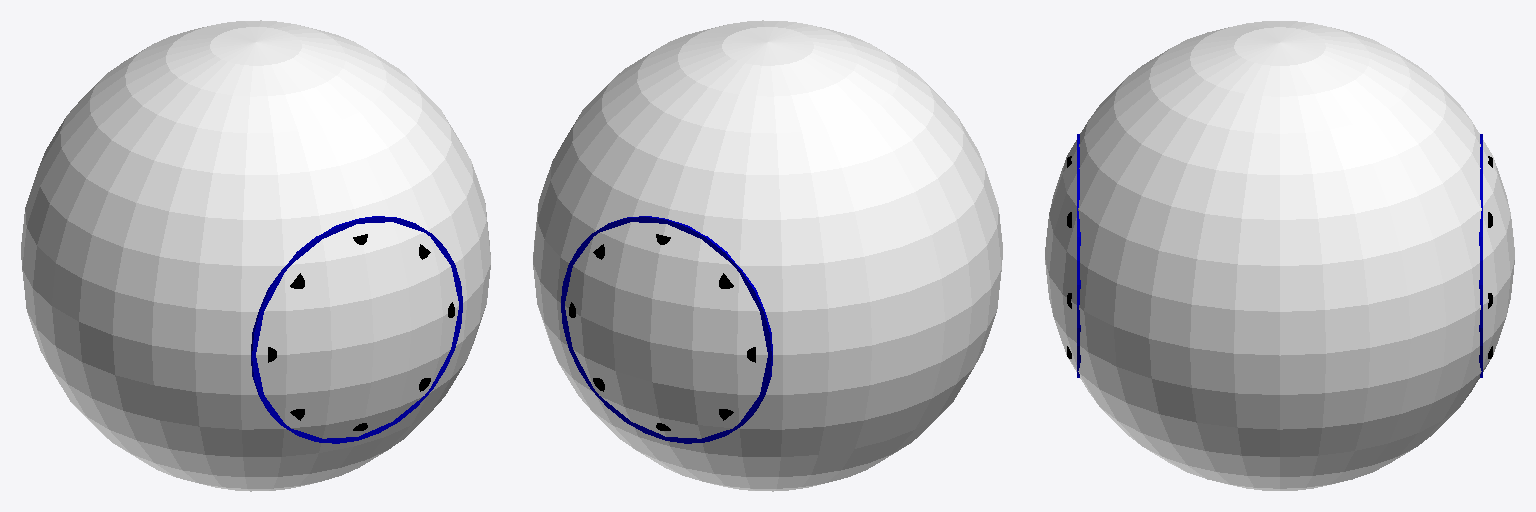
--- Facts derived from the render (not from the file) ---
Views: 3 orthographic renders of the robot side by side, from view 1: azimuth 30°, elevation 25°; view 2: azimuth 150°, elevation 25°; view 3: azimuth 270°, elevation 25°.
Model daedalus with 69 links and 68 joints (1 revolute, 1 continuous, 48 prismatic, 18 fixed), rooted at base_link, posed all joints at 0.
Visible links, largest first — view 1: sphere, base_link; view 2: sphere, base_link; view 3: sphere, base_link.
Link boxes in pixels (<box>): sphere: <box>21,20,490,491</box>; base_link: <box>251,216,462,443</box>; sphere: <box>533,20,1002,491</box>; base_link: <box>561,216,772,443</box>; sphere: <box>1045,21,1514,490</box>; base_link: <box>1077,134,1482,377</box>.
Bounding box of the posed robot: 0.928 × 0.928 × 0.928 m (x, y, z).
Geometry: primitives only (box / cylinder / sphere), no mesh files.

URDF robot description (daedalus):
<?xml version="1.0" ?>
<!-- =================================================================================== -->
<!-- |    This document was autogenerated by xacro from daedalus_simple.urdf.xacro     | -->
<!-- |    EDITING THIS FILE BY HAND IS NOT RECOMMENDED                                 | -->
<!-- =================================================================================== -->
<robot name="daedalus">
  <self_collide>false</self_collide>
  <!--Define some parameters -->
  <material name="white">
    <color rgba="1 1 1 0.2"/>
  </material>
  <material name="blue">
    <color rgba="0 0 0.8 0.1"/>
  </material>
  <material name="black">
    <color rgba="0 0 0 1"/>
  </material>
  <!--The sphere -->
  <link name="base_link">
    <visual>
      <geometry>
        <cylinder length="0.8" radius="0.24"/>
      </geometry>
      <origin rpy="1.5707963267948966 0 0" xyz="0 0 0"/>
      <material name="blue"/>
    </visual>
    <collision>
      <geometry>
        <sphere radius="0.464"/>
      </geometry>
    </collision>
  </link>
  <link name="sphere">
    <visual>
      <geometry>
        <sphere radius="0.464"/>
      </geometry>
      <material name="white"/>
    </visual>
    <collision>
      <geometry>
        <sphere radius="0.464"/>
      </geometry>
    </collision>
    <inertial>
      <mass value="5.0"/>
      <inertia ixx="0.7176533333333334" ixy="0.0" ixz="0.0" iyy="0.7176533333333334" iyz="0.0" izz="0.7176533333333334"/>
    </inertial>
  </link>
  <gazebo reference="sphere">
    <mu1 value="200.0"/>
    <mu2 value="100.0"/>
    <kp value="10000000.0"/>
    <kd value="1.0"/>
    <material>Gazebo/Grey</material>
  </gazebo>
  <link name="filler_link">
    <visual>
      <geometry>
        <cylinder length="0.8" radius="0.24"/>
      </geometry>
      <origin rpy="1.5707963267948966 0 0" xyz="0 0 0"/>
      <material name="blue"/>
    </visual>
    <inertial>
      <mass value="20"/>
      <inertia ixx="1" ixy="0.0" ixz="0" iyy="1" iyz="0.0" izz=".432"/>
    </inertial>
  </link>
  <joint name="temp_cyl" type="continuous">
    <parent link="filler_link"/>
    <child link="sphere"/>
    <axis rpy="0 0 0" xyz="0 1 0"/>
    <origin xyz="0 0 0"/>
    <limit effort="1000.0" velocity="5.0"/>
    <joint_properties damping="1000.0" friction="1000.0"/>
    <dynamics damping="100.0" friction="200.0"/>
  </joint>
  <!--joint name="temp_cyl_2" type="continuous">
     <parent link="filler_link"/>
     <child link="inner_outer_connector_left"/>
     <axis xyz="0 1 0" rpy="0 0 0"/>
     <origin xyz="0 -0.4 0"/>
     <limit effort="1000.0" velocity="2.0"/>
     <joint_properties damping="1000.0" friction="1000.0"/>
     <dynamics damping="100.0" friction="200.0"/>
  </joint-->
  <joint name="filler" type="fixed">
    <parent link="base_link"/>
    <child link="filler_link"/>
    <origin xyz="0 0 0"/>
  </joint>
  <transmission name="temp_cyl">
    <type>transmission_interface/SimpleTransmission</type>
    <actuator name="$temp_cyl">
      <mechanicalReduction>1</mechanicalReduction>
    </actuator>
    <joint name="temp_cyl">
      <hardwareInterface>hardware_interface/VelocityJointInterface</hardwareInterface>
    </joint>
  </transmission>
  <!--transmission name="temp_cyl_2">
    <type>transmission_interface/SimpleTransmission</type>
    <actuator name="$temp_cyl_2">
      <mechanicalReduction>1</mechanicalReduction>
    </actuator>
    <joint name="temp_cyl_2">
      <hardwareInterface>hardware_interface/VelocityJointInterface</hardwareInterface>
    </joint>
  </transmission-->
  <!--joint name="connector_to_sphere_left" type="fixed">
     <parent link="inner_outer_connector_left"/>
     <child link="sphere"/>
     <origin xyz="0 0.4 0"/>
  </joint-->
  <!--joint name="connector_to_sphere_right" type="fixed">
     <parent link="inner_outer_connector_right"/>
     <child link="sphere"/>
     <origin xyz="0 -0.4 0"/>
  </joint-->
  <!--link name="hip_base">
    <visual>
      <geometry>
        <cylinder radius="0.24" length="0.8"/>
      </geometry>
      <origin rpy="${pi/2.0} 0 0" xyz="0 0 0"/>
      <material name="blue"/>
    </visual>
    <inertial>
       <mass value="1"/>
       <inertia ixx="1" ixy="0.0" ixz="0" iyy="1" iyz="0.0" izz=".432"/>
    </inertial>
  </link-->
  <!--joint name="center_to_base" type="continuous">
     <parent link="filler_link"/>
     <child link="sphere"/>
     <axis xyz="0 1 0" rpy="0 0 0"/>
     <limit effort="1000.0" velocity="2.0"/>
     <joint_properties damping="1000.0" friction="1000.0"/>
     <dynamics damping="100.0" friction="200.0"/>
  </joint-->
  <!--transmission name="center_to_base">
    <type>transmission_interface/SimpleTransmission</type>
    <actuator name="$center_to_base">
      <mechanicalReduction>1</mechanicalReduction>
    </actuator>
    <joint name="center_to_base">
      <hardwareInterface>hardware_interface/VelocityJointInterface</hardwareInterface>
    </joint>
  </transmission-->
  <!--The battery -->
  <!--link name="battery_holder_1">
    <visual>
      <geometry>
        <sphere radius="0.04"/>
      </geometry>
      <origin rpy="0 0 0" xyz="0 0 0"/>
      <material name="black"/>
    </visual>
    <collision>
      <geometry>
        <sphere radius="0.04"/>
      </geometry>
    </collision>
    <inertial>
       <mass value="${5.0}"/>
       <inertia ixx="${2.0/3.0*5.0*0.04*0.04}" ixy="0.0" ixz="0.0" iyy="${2.0/3.0*5.0*0.04*0.04}" iyz="0.0" izz="${2.0/3.0*5.0*0.04*0.04}"/>
    </inertial>
  </link-->
  <link name="battery_holder">
    <visual>
      <geometry>
        <cylinder length="0.3" radius="0.01"/>
      </geometry>
      <origin rpy="0 0 0" xyz="0 0 -0.15"/>
      <material name="black"/>
    </visual>
    <collision>
      <geometry>
        <cylinder length="0.3" radius="0.01"/>
      </geometry>
    </collision>
    <inertial>
      <mass value="1"/>
      <inertia ixx="1.0" ixy="0.0" ixz="0.0" iyy="1.0" iyz="0.0" izz="1.0"/>
    </inertial>
  </link>
  <link name="battery">
    <visual>
      <geometry>
        <box size="0.2 0.2 0.1"/>
      </geometry>
      <origin rpy="0 0 0" xyz="0 0 0"/>
      <material name="black"/>
    </visual>
    <inertial>
      <mass value="7.0"/>
      <inertia ixx="0.04666666666666667" ixy="0.0" ixz="0.0" iyy="0.04666666666666667" iyz="0.0" izz="0.029166666666666674"/>
    </inertial>
    <collision>
      <geometry>
        <box size="0.2 0.2 0.1"/>
      </geometry>
    </collision>
  </link>
  <joint name="battery" type="fixed">
    <parent link="battery_holder"/>
    <child link="battery"/>
    <origin xyz="0 0 -0.3"/>
  </joint>
  <!--joint name="battery_pitch" type="continuous">
     <axis xyz="0 1 0" rpy="0 0 0"/>
     <parent link="sphere"/>
     <child link="battery_holder_1"/>
     <origin xyz="0 0 0" rpy="0 0 0"/>
     <limit effort="1000.0" velocity="10.0"/>
     <joint_properties damping="1000.0" friction="1000.0"/>
     <dynamics damping="100.0" friction="200.0" />
  </joint-->
  <joint name="battery_yaw" type="revolute">
    <parent link="filler_link"/>
    <axis xyz="1 0 0"/>
    <child link="battery_holder"/>
    <limit effort="1000.0" lower="-0.7853981633974483" upper="0.7853981633974483" velocity="0.5"/>
    <origin xyz="0 0 0"/>
    <joint_properties damping="1000.0" friction="1000.0"/>
    <dynamics damping="100.0" friction="200.0"/>
  </joint>
  <!--transmission name="battery_holder_1_trans">
    <type>transmission_interface/SimpleTransmission</type>
    <actuator name="$battery_holder_1__motor">
      <mechanicalReduction>1</mechanicalReduction>
    </actuator>
    <joint name="battery_pitch">
      <hardwareInterface>hardware_interface/VelocityJointInterface</hardwareInterface>
    </joint>
  </transmission-->
  <transmission name="battery_holder_trans">
    <type>transmission_interface/SimpleTransmission</type>
    <actuator name="$battery_holder__motor">
      <mechanicalReduction>1</mechanicalReduction>
    </actuator>
    <joint name="battery_yaw">
      <hardwareInterface>hardware_interface/PositionJointInterface</hardwareInterface>
    </joint>
  </transmission>
  <!--link name="inner_outer_connector_right">
    <visual>
        <geometry>
          <cylinder length="0.1" radius="0.1"/>
        </geometry>
        <material name="black"/>
      </visual>
      <collision>
        <geometry>
          <cylinder length="0.1" radius="0.1"/>
        </geometry>
      </collision>
      <inertial>
       <mass value="1"/>
       <inertia ixx="1/12*0.1*0.1" ixy="0.0" ixz="0.0" iyy="1/12*0.1*0.1" iyz="0.0" izz="0.0"/> 
      </inertial>
    </link-->
  <!--link name="inner_outer_connector_left">
    <visual>
        <geometry>
          <cylinder length="0.1" radius="0.1"/>
        </geometry>
        <material name="black"/>
      </visual>
      <collision>
        <geometry>
          <cylinder length="0.05" radius="0.05"/>
        </geometry>
      </collision>
      <inertial>
       <mass value="1"/>
       <inertia ixx="1/12*0.1*0.1" ixy="0.0" ixz="0.0" iyy="1/12*0.1*0.1" iyz="0.0" izz="0.0"/> 
      </inertial>
    </link-->
  <!--The rods -->
  <link name="hip_right_0">
    <visual>
      <geometry>
        <cylinder length="0.14" radius="0.02"/>
      </geometry>
      <material name="black"/>
    </visual>
    <collision>
      <geometry>
        <cylinder length="0.14" radius="0.02"/>
      </geometry>
    </collision>
    <inertial>
      <mass value="0.3"/>
      <inertia ixx="0.0004900000000000001" ixy="0.0" ixz="0.0" iyy="0.0" iyz="0.0" izz="0.0004900000000000001"/>
    </inertial>
  </link>
  <link name="outer_leg_right_0">
    <visual>
      <geometry>
        <cylinder length="0.14" radius="0.016"/>
      </geometry>
      <material name="black"/>
    </visual>
    <collision>
      <geometry>
        <cylinder length="0.14" radius="0.016"/>
      </geometry>
    </collision>
    <inertial>
      <mass value="0.24"/>
      <inertia ixx="0.0003920000000000001" ixy="0.0" ixz="0.0" iyy="0.0" iyz="0.0" izz="0.0003920000000000001"/>
    </inertial>
  </link>
  <link name="center_leg_right_0">
    <visual>
      <geometry>
        <cylinder length="0.14" radius="0.012"/>
      </geometry>
      <material name="black"/>
    </visual>
    <collision>
      <geometry>
        <cylinder length="0.14" radius="0.012"/>
      </geometry>
    </collision>
    <inertial>
      <mass value="0.18"/>
      <inertia ixx="0.000294" ixy="0.0" ixz="0.0" iyy="0.000294" iyz="0.0" izz="0.0"/>
    </inertial>
  </link>
  <link name="inner_leg_right_0">
    <visual>
      <geometry>
        <cylinder length="0.14" radius="0.008"/>
      </geometry>
      <material name="black"/>
    </visual>
    <collision>
      <geometry>
        <cylinder length="0.14" radius="0.008"/>
      </geometry>
    </collision>
    <inertial>
      <mass value="0.12"/>
      <inertia ixx="0.00019600000000000005" ixy="0.0" ixz="0.0" iyy="0.00019600000000000005" iyz="0.0" izz="0.0"/>
    </inertial>
  </link>
  <joint name="base_to_hip_right_0" type="fixed">
    <parent link="filler_link"/>
    <child link="hip_right_0"/>
    <origin rpy="0 0.0 0" xyz="0.0 0.4 0.14"/>
  </joint>
  <!--
    <joint name="outer_to_center_leg_${prefix}" type="fixed">
       <parent link="outer_leg_${prefix}"/>
       <child link="center_leg_${prefix}"/>
       <origin xyz="0 0 0.02"/>
    </joint>
    <joint name="center_to_inner_leg_${prefix}" type="fixed">
       <parent link="center_leg_${prefix}"/>
       <child link="inner_leg_${prefix}"/>
       <origin xyz="0 0 0.02"/>
    </joint>
    -->
  <joint name="hip_to_outer_leg_right_0" type="prismatic">
    <axis xyz="0 0 1"/>
    <parent link="hip_right_0"/>
    <child link="outer_leg_right_0"/>
    <limit effort="3000.0" lower="0.0" upper="0.14" velocity="0.1"/>
    <origin rpy="0 0 0" xyz="0 0 0"/>
    <dynamics damping="100.0" friction="200.0"/>
  </joint>
  <joint name="outer_to_center_leg_right_0" type="prismatic">
    <axis xyz="0 0 1"/>
    <parent link="outer_leg_right_0"/>
    <child link="center_leg_right_0"/>
    <limit effort="3000.0" lower="0.0" upper="0.14" velocity="0.1"/>
    <origin rpy="0 0 0" xyz="0 0 0"/>
    <dynamics damping="100.0" friction="200.0"/>
  </joint>
  <joint name="center_to_inner_leg_right_0" type="prismatic">
    <axis xyz="0 0 1"/>
    <parent link="center_leg_right_0"/>
    <child link="inner_leg_right_0"/>
    <limit effort="3000.0" lower="0.0" upper="0.14" velocity="0.1"/>
    <origin rpy="0 0 0" xyz="0 0 0"/>
    <dynamics damping="100.0" friction="200.0"/>
  </joint>
  <!--transmission name="base_to_hip_${prefix}">
      <type>transmission_interface/SimpleTransmission</type>
      <actuator name="$base_to_hip_${prefix}">
        <mechanicalReduction>1</mechanicalReduction>
      </actuator>
      <joint name="base_to_hip_${prefix}">
        <hardwareInterface>hardware_interface/VelocityJointInterface</hardwareInterface>
      </joint>
    </transmission-->
  <transmission name="outer_leg_extension_right_0_trans" type="SimpleTransmission">
    <type>transmission_interface/SimpleTransmission</type>
    <actuator name="outer_leg_extension_right_0_motor">
      <hardwareInterface>hardware_interface/PositionJointInterface</hardwareInterface>
      <mechanicalReduction>1</mechanicalReduction>
    </actuator>
    <joint name="hip_to_outer_leg_right_0">
      <hardwareInterface>hardware_interface/PositionJointInterface</hardwareInterface>
    </joint>
  </transmission>
  <transmission name="center_leg_extension_right_0_trans" type="SimpleTransmission">
    <type>transmission_interface/SimpleTransmission</type>
    <actuator name="center_leg_extension_right_0_motor">
      <hardwareInterface>hardware_interface/PositionJointInterface</hardwareInterface>
      <mechanicalReduction>1</mechanicalReduction>
    </actuator>
    <joint name="outer_to_center_leg_right_0">
      <hardwareInterface>hardware_interface/PositionJointInterface</hardwareInterface>
    </joint>
  </transmission>
  <transmission name="inner_leg_extension_right_0_trans" type="SimpleTransmission">
    <type>transmission_interface/SimpleTransmission</type>
    <actuator name="inner_leg_extension_right_0_motor">
      <hardwareInterface>hardware_interface/PositionJointInterface</hardwareInterface>
      <mechanicalReduction>1</mechanicalReduction>
    </actuator>
    <joint name="center_to_inner_leg_right_0">
      <hardwareInterface>hardware_interface/PositionJointInterface</hardwareInterface>
    </joint>
  </transmission>
  <link name="hip_right_2">
    <visual>
      <geometry>
        <cylinder length="0.14" radius="0.02"/>
      </geometry>
      <material name="black"/>
    </visual>
    <collision>
      <geometry>
        <cylinder length="0.14" radius="0.02"/>
      </geometry>
    </collision>
    <inertial>
      <mass value="0.3"/>
      <inertia ixx="0.0004900000000000001" ixy="0.0" ixz="0.0" iyy="0.0" iyz="0.0" izz="0.0004900000000000001"/>
    </inertial>
  </link>
  <link name="outer_leg_right_2">
    <visual>
      <geometry>
        <cylinder length="0.14" radius="0.016"/>
      </geometry>
      <material name="black"/>
    </visual>
    <collision>
      <geometry>
        <cylinder length="0.14" radius="0.016"/>
      </geometry>
    </collision>
    <inertial>
      <mass value="0.24"/>
      <inertia ixx="0.0003920000000000001" ixy="0.0" ixz="0.0" iyy="0.0" iyz="0.0" izz="0.0003920000000000001"/>
    </inertial>
  </link>
  <link name="center_leg_right_2">
    <visual>
      <geometry>
        <cylinder length="0.14" radius="0.012"/>
      </geometry>
      <material name="black"/>
    </visual>
    <collision>
      <geometry>
        <cylinder length="0.14" radius="0.012"/>
      </geometry>
    </collision>
    <inertial>
      <mass value="0.18"/>
      <inertia ixx="0.000294" ixy="0.0" ixz="0.0" iyy="0.000294" iyz="0.0" izz="0.0"/>
    </inertial>
  </link>
  <link name="inner_leg_right_2">
    <visual>
      <geometry>
        <cylinder length="0.14" radius="0.008"/>
      </geometry>
      <material name="black"/>
    </visual>
    <collision>
      <geometry>
        <cylinder length="0.14" radius="0.008"/>
      </geometry>
    </collision>
    <inertial>
      <mass value="0.12"/>
      <inertia ixx="0.00019600000000000005" ixy="0.0" ixz="0.0" iyy="0.00019600000000000005" iyz="0.0" izz="0.0"/>
    </inertial>
  </link>
  <joint name="base_to_hip_right_2" type="fixed">
    <parent link="filler_link"/>
    <child link="hip_right_2"/>
    <origin rpy="0 1.5707963267948966 0" xyz="0.14 0.4 8.572527594031473e-18"/>
  </joint>
  <!--
    <joint name="outer_to_center_leg_${prefix}" type="fixed">
       <parent link="outer_leg_${prefix}"/>
       <child link="center_leg_${prefix}"/>
       <origin xyz="0 0 0.02"/>
    </joint>
    <joint name="center_to_inner_leg_${prefix}" type="fixed">
       <parent link="center_leg_${prefix}"/>
       <child link="inner_leg_${prefix}"/>
       <origin xyz="0 0 0.02"/>
    </joint>
    -->
  <joint name="hip_to_outer_leg_right_2" type="prismatic">
    <axis xyz="0 0 1"/>
    <parent link="hip_right_2"/>
    <child link="outer_leg_right_2"/>
    <limit effort="3000.0" lower="0.0" upper="0.14" velocity="0.1"/>
    <origin rpy="0 0 0" xyz="0 0 0"/>
    <dynamics damping="100.0" friction="200.0"/>
  </joint>
  <joint name="outer_to_center_leg_right_2" type="prismatic">
    <axis xyz="0 0 1"/>
    <parent link="outer_leg_right_2"/>
    <child link="center_leg_right_2"/>
    <limit effort="3000.0" lower="0.0" upper="0.14" velocity="0.1"/>
    <origin rpy="0 0 0" xyz="0 0 0"/>
    <dynamics damping="100.0" friction="200.0"/>
  </joint>
  <joint name="center_to_inner_leg_right_2" type="prismatic">
    <axis xyz="0 0 1"/>
    <parent link="center_leg_right_2"/>
    <child link="inner_leg_right_2"/>
    <limit effort="3000.0" lower="0.0" upper="0.14" velocity="0.1"/>
    <origin rpy="0 0 0" xyz="0 0 0"/>
    <dynamics damping="100.0" friction="200.0"/>
  </joint>
  <!--transmission name="base_to_hip_${prefix}">
      <type>transmission_interface/SimpleTransmission</type>
      <actuator name="$base_to_hip_${prefix}">
        <mechanicalReduction>1</mechanicalReduction>
      </actuator>
      <joint name="base_to_hip_${prefix}">
        <hardwareInterface>hardware_interface/VelocityJointInterface</hardwareInterface>
      </joint>
    </transmission-->
  <transmission name="outer_leg_extension_right_2_trans" type="SimpleTransmission">
    <type>transmission_interface/SimpleTransmission</type>
    <actuator name="outer_leg_extension_right_2_motor">
      <hardwareInterface>hardware_interface/PositionJointInterface</hardwareInterface>
      <mechanicalReduction>1</mechanicalReduction>
    </actuator>
    <joint name="hip_to_outer_leg_right_2">
      <hardwareInterface>hardware_interface/PositionJointInterface</hardwareInterface>
    </joint>
  </transmission>
  <transmission name="center_leg_extension_right_2_trans" type="SimpleTransmission">
    <type>transmission_interface/SimpleTransmission</type>
    <actuator name="center_leg_extension_right_2_motor">
      <hardwareInterface>hardware_interface/PositionJointInterface</hardwareInterface>
      <mechanicalReduction>1</mechanicalReduction>
    </actuator>
    <joint name="outer_to_center_leg_right_2">
      <hardwareInterface>hardware_interface/PositionJointInterface</hardwareInterface>
    </joint>
  </transmission>
  <transmission name="inner_leg_extension_right_2_trans" type="SimpleTransmission">
    <type>transmission_interface/SimpleTransmission</type>
    <actuator name="inner_leg_extension_right_2_motor">
      <hardwareInterface>hardware_interface/PositionJointInterface</hardwareInterface>
      <mechanicalReduction>1</mechanicalReduction>
    </actuator>
    <joint name="center_to_inner_leg_right_2">
      <hardwareInterface>hardware_interface/PositionJointInterface</hardwareInterface>
    </joint>
  </transmission>
  <link name="hip_right_4">
    <visual>
      <geometry>
        <cylinder length="0.14" radius="0.02"/>
      </geometry>
      <material name="black"/>
    </visual>
    <collision>
      <geometry>
        <cylinder length="0.14" radius="0.02"/>
      </geometry>
    </collision>
    <inertial>
      <mass value="0.3"/>
      <inertia ixx="0.0004900000000000001" ixy="0.0" ixz="0.0" iyy="0.0" iyz="0.0" izz="0.0004900000000000001"/>
    </inertial>
  </link>
  <link name="outer_leg_right_4">
    <visual>
      <geometry>
        <cylinder length="0.14" radius="0.016"/>
      </geometry>
      <material name="black"/>
    </visual>
    <collision>
      <geometry>
        <cylinder length="0.14" radius="0.016"/>
      </geometry>
    </collision>
    <inertial>
      <mass value="0.24"/>
      <inertia ixx="0.0003920000000000001" ixy="0.0" ixz="0.0" iyy="0.0" iyz="0.0" izz="0.0003920000000000001"/>
    </inertial>
  </link>
  <link name="center_leg_right_4">
    <visual>
      <geometry>
        <cylinder length="0.14" radius="0.012"/>
      </geometry>
      <material name="black"/>
    </visual>
    <collision>
      <geometry>
        <cylinder length="0.14" radius="0.012"/>
      </geometry>
    </collision>
    <inertial>
      <mass value="0.18"/>
      <inertia ixx="0.000294" ixy="0.0" ixz="0.0" iyy="0.000294" iyz="0.0" izz="0.0"/>
    </inertial>
  </link>
  <link name="inner_leg_right_4">
    <visual>
      <geometry>
        <cylinder length="0.14" radius="0.008"/>
      </geometry>
      <material name="black"/>
    </visual>
    <collision>
      <geometry>
        <cylinder length="0.14" radius="0.008"/>
      </geometry>
    </collision>
    <inertial>
      <mass value="0.12"/>
      <inertia ixx="0.00019600000000000005" ixy="0.0" ixz="0.0" iyy="0.00019600000000000005" iyz="0.0" izz="0.0"/>
    </inertial>
  </link>
  <joint name="base_to_hip_right_4" type="fixed">
    <parent link="filler_link"/>
    <child link="hip_right_4"/>
    <origin rpy="0 3.141592653589793 0" xyz="1.7145055188062947e-17 0.4 -0.14"/>
  </joint>
  <!--
    <joint name="outer_to_center_leg_${prefix}" type="fixed">
       <parent link="outer_leg_${prefix}"/>
       <child link="center_leg_${prefix}"/>
       <origin xyz="0 0 0.02"/>
    </joint>
    <joint name="center_to_inner_leg_${prefix}" type="fixed">
       <parent link="center_leg_${prefix}"/>
       <child link="inner_leg_${prefix}"/>
       <origin xyz="0 0 0.02"/>
    </joint>
    -->
  <joint name="hip_to_outer_leg_right_4" type="prismatic">
    <axis xyz="0 0 1"/>
    <parent link="hip_right_4"/>
    <child link="outer_leg_right_4"/>
    <limit effort="3000.0" lower="0.0" upper="0.14" velocity="0.1"/>
    <origin rpy="0 0 0" xyz="0 0 0"/>
    <dynamics damping="100.0" friction="200.0"/>
  </joint>
  <joint name="outer_to_center_leg_right_4" type="prismatic">
    <axis xyz="0 0 1"/>
    <parent link="outer_leg_right_4"/>
    <child link="center_leg_right_4"/>
    <limit effort="3000.0" lower="0.0" upper="0.14" velocity="0.1"/>
    <origin rpy="0 0 0" xyz="0 0 0"/>
    <dynamics damping="100.0" friction="200.0"/>
  </joint>
  <joint name="center_to_inner_leg_right_4" type="prismatic">
    <axis xyz="0 0 1"/>
    <parent link="center_leg_right_4"/>
    <child link="inner_leg_right_4"/>
    <limit effort="3000.0" lower="0.0" upper="0.14" velocity="0.1"/>
    <origin rpy="0 0 0" xyz="0 0 0"/>
    <dynamics damping="100.0" friction="200.0"/>
  </joint>
  <!--transmission name="base_to_hip_${prefix}">
      <type>transmission_interface/SimpleTransmission</type>
      <actuator name="$base_to_hip_${prefix}">
        <mechanicalReduction>1</mechanicalReduction>
      </actuator>
      <joint name="base_to_hip_${prefix}">
        <hardwareInterface>hardware_interface/VelocityJointInterface</hardwareInterface>
      </joint>
    </transmission-->
  <transmission name="outer_leg_extension_right_4_trans" type="SimpleTransmission">
    <type>transmission_interface/SimpleTransmission</type>
    <actuator name="outer_leg_extension_right_4_motor">
      <hardwareInterface>hardware_interface/PositionJointInterface</hardwareInterface>
      <mechanicalReduction>1</mechanicalReduction>
    </actuator>
    <joint name="hip_to_outer_leg_right_4">
      <hardwareInterface>hardware_interface/PositionJointInterface</hardwareInterface>
    </joint>
  </transmission>
  <transmission name="center_leg_extension_right_4_trans" type="SimpleTransmission">
    <type>transmission_interface/SimpleTransmission</type>
    <actuator name="center_leg_extension_right_4_motor">
      <hardwareInterface>hardware_interface/PositionJointInterface</hardwareInterface>
      <mechanicalReduction>1</mechanicalReduction>
    </actuator>
    <joint name="outer_to_center_leg_right_4">
      <hardwareInterface>hardware_interface/PositionJointInterface</hardwareInterface>
    </joint>
  </transmission>
  <transmission name="inner_leg_extension_right_4_trans" type="SimpleTransmission">
    <type>transmission_interface/SimpleTransmission</type>
    <actuator name="inner_leg_extension_right_4_motor">
      <hardwareInterface>hardware_interface/PositionJointInterface</hardwareInterface>
      <mechanicalReduction>1</mechanicalReduction>
    </actuator>
    <joint name="center_to_inner_leg_right_4">
      <hardwareInterface>hardware_interface/PositionJointInterface</hardwareInterface>
    </joint>
  </transmission>
  <link name="hip_right_6">
    <visual>
      <geometry>
        <cylinder length="0.14" radius="0.02"/>
      </geometry>
      <material name="black"/>
    </visual>
    <collision>
      <geometry>
        <cylinder length="0.14" radius="0.02"/>
      </geometry>
    </collision>
    <inertial>
      <mass value="0.3"/>
      <inertia ixx="0.0004900000000000001" ixy="0.0" ixz="0.0" iyy="0.0" iyz="0.0" izz="0.0004900000000000001"/>
    </inertial>
  </link>
  <link name="outer_leg_right_6">
    <visual>
      <geometry>
        <cylinder length="0.14" radius="0.016"/>
      </geometry>
      <material name="black"/>
    </visual>
    <collision>
      <geometry>
        <cylinder length="0.14" radius="0.016"/>
      </geometry>
    </collision>
    <inertial>
      <mass value="0.24"/>
      <inertia ixx="0.0003920000000000001" ixy="0.0" ixz="0.0" iyy="0.0" iyz="0.0" izz="0.0003920000000000001"/>
    </inertial>
  </link>
  <link name="center_leg_right_6">
    <visual>
      <geometry>
        <cylinder length="0.14" radius="0.012"/>
      </geometry>
      <material name="black"/>
    </visual>
    <collision>
      <geometry>
        <cylinder length="0.14" radius="0.012"/>
      </geometry>
    </collision>
    <inertial>
      <mass value="0.18"/>
      <inertia ixx="0.000294" ixy="0.0" ixz="0.0" iyy="0.000294" iyz="0.0" izz="0.0"/>
    </inertial>
  </link>
  <link name="inner_leg_right_6">
    <visual>
      <geometry>
        <cylinder length="0.14" radius="0.008"/>
      </geometry>
      <material name="black"/>
    </visual>
    <collision>
      <geometry>
        <cylinder length="0.14" radius="0.008"/>
      </geometry>
    </collision>
    <inertial>
      <mass value="0.12"/>
      <inertia ixx="0.00019600000000000005" ixy="0.0" ixz="0.0" iyy="0.00019600000000000005" iyz="0.0" izz="0.0"/>
    </inertial>
  </link>
  <joint name="base_to_hip_right_6" type="fixed">
    <parent link="filler_link"/>
    <child link="hip_right_6"/>
    <origin rpy="0 4.71238898038469 0" xyz="-0.14 0.4 -2.571758278209442e-17"/>
  </joint>
  <!--
    <joint name="outer_to_center_leg_${prefix}" type="fixed">
       <parent link="outer_leg_${prefix}"/>
       <child link="center_leg_${prefix}"/>
       <origin xyz="0 0 0.02"/>
    </joint>
    <joint name="center_to_inner_leg_${prefix}" type="fixed">
       <parent link="center_leg_${prefix}"/>
       <child link="inner_leg_${prefix}"/>
       <origin xyz="0 0 0.02"/>
    </joint>
    -->
  <joint name="hip_to_outer_leg_right_6" type="prismatic">
    <axis xyz="0 0 1"/>
    <parent link="hip_right_6"/>
    <child link="outer_leg_right_6"/>
    <limit effort="3000.0" lower="0.0" upper="0.14" velocity="0.1"/>
    <origin rpy="0 0 0" xyz="0 0 0"/>
    <dynamics damping="100.0" friction="200.0"/>
  </joint>
  <joint name="outer_to_center_leg_right_6" type="prismatic">
    <axis xyz="0 0 1"/>
    <parent link="outer_leg_right_6"/>
    <child link="center_leg_right_6"/>
    <limit effort="3000.0" lower="0.0" upper="0.14" velocity="0.1"/>
    <origin rpy="0 0 0" xyz="0 0 0"/>
    <dynamics damping="100.0" friction="200.0"/>
  </joint>
  <joint name="center_to_inner_leg_right_6" type="prismatic">
    <axis xyz="0 0 1"/>
    <parent link="center_leg_right_6"/>
    <child link="inner_leg_right_6"/>
    <limit effort="3000.0" lower="0.0" upper="0.14" velocity="0.1"/>
    <origin rpy="0 0 0" xyz="0 0 0"/>
    <dynamics damping="100.0" friction="200.0"/>
  </joint>
  <!--transmission name="base_to_hip_${prefix}">
      <type>transmission_interface/SimpleTransmission</type>
      <actuator name="$base_to_hip_${prefix}">
        <mechanicalReduction>1</mechanicalReduction>
      </actuator>
      <joint name="base_to_hip_${prefix}">
        <hardwareInterface>hardware_interface/VelocityJointInterface</hardwareInterface>
      </joint>
    </transmission-->
  <transmission name="outer_leg_extension_right_6_trans" type="SimpleTransmission">
    <type>transmission_interface/SimpleTransmission</type>
    <actuator name="outer_leg_extension_right_6_motor">
      <hardwareInterface>hardware_interface/PositionJointInterface</hardwareInterface>
      <mechanicalReduction>1</mechanicalReduction>
    </actuator>
    <joint name="hip_to_outer_leg_right_6">
      <hardwareInterface>hardware_interface/PositionJointInterface</hardwareInterface>
    </joint>
  </transmission>
  <transmission name="center_leg_extension_right_6_trans" type="SimpleTransmission">
    <type>transmission_interface/SimpleTransmission</type>
    <actuator name="center_leg_extension_right_6_motor">
      <hardwareInterface>hardware_interface/PositionJointInterface</hardwareInterface>
      <mechanicalReduction>1</mechanicalReduction>
    </actuator>
    <joint name="outer_to_center_leg_right_6">
      <hardwareInterface>hardware_interface/PositionJointInterface</hardwareInterface>
    </joint>
  </transmission>
  <transmission name="inner_leg_extension_right_6_trans" type="SimpleTransmission">
    <type>transmission_interface/SimpleTransmission</type>
    <actuator name="inner_leg_extension_right_6_motor">
      <hardwareInterface>hardware_interface/PositionJointInterface</hardwareInterface>
      <mechanicalReduction>1</mechanicalReduction>
    </actuator>
    <joint name="center_to_inner_leg_right_6">
      <hardwareInterface>hardware_interface/PositionJointInterface</hardwareInterface>
    </joint>
  </transmission>
  <link name="hip_right_1">
    <visual>
      <geometry>
        <cylinder length="0.14" radius="0.02"/>
      </geometry>
      <material name="black"/>
    </visual>
    <collision>
      <geometry>
        <cylinder length="0.14" radius="0.02"/>
      </geometry>
    </collision>
    <inertial>
      <mass value="0.3"/>
      <inertia ixx="0.0004900000000000001" ixy="0.0" ixz="0.0" iyy="0.0" iyz="0.0" izz="0.0004900000000000001"/>
    </inertial>
  </link>
  <link name="outer_leg_right_1">
    <visual>
      <geometry>
        <cylinder length="0.14" radius="0.016"/>
      </geometry>
      <material name="black"/>
    </visual>
    <collision>
      <geometry>
        <cylinder length="0.14" radius="0.016"/>
      </geometry>
    </collision>
    <inertial>
      <mass value="0.24"/>
      <inertia ixx="0.0003920000000000001" ixy="0.0" ixz="0.0" iyy="0.0" iyz="0.0" izz="0.0003920000000000001"/>
    </inertial>
  </link>
  <link name="center_leg_right_1">
    <visual>
      <geometry>
        <cylinder length="0.14" radius="0.012"/>
      </geometry>
      <material name="black"/>
    </visual>
    <collision>
      <geometry>
        <cylinder length="0.14" radius="0.012"/>
      </geometry>
    </collision>
    <inertial>
      <mass value="0.18"/>
      <inertia ixx="0.000294" ixy="0.0" ixz="0.0" iyy="0.000294" iyz="0.0" izz="0.0"/>
    </inertial>
  </link>
  <link name="inner_leg_right_1">
    <visual>
      <geometry>
        <cylinder length="0.14" radius="0.008"/>
      </geometry>
      <material name="black"/>
    </visual>
    <collision>
      <geometry>
        <cylinder length="0.14" radius="0.008"/>
      </geometry>
    </collision>
    <inertial>
      <mass value="0.12"/>
      <inertia ixx="0.00019600000000000005" ixy="0.0" ixz="0.0" iyy="0.00019600000000000005" iyz="0.0" izz="0.0"/>
    </inertial>
  </link>
  <joint name="base_to_hip_right_1" type="fixed">
    <parent link="filler_link"/>
    <child link="hip_right_1"/>
    <origin rpy="0 0.7853981633974483 0" xyz="0.09899494936611665 0.4 0.09899494936611666"/>
  </joint>
  <!--
    <joint name="outer_to_center_leg_${prefix}" type="fixed">
       <parent link="outer_leg_${prefix}"/>
       <child link="center_leg_${prefix}"/>
       <origin xyz="0 0 0.02"/>
    </joint>
    <joint name="center_to_inner_leg_${prefix}" type="fixed">
       <parent link="center_leg_${prefix}"/>
       <child link="inner_leg_${prefix}"/>
       <origin xyz="0 0 0.02"/>
    </joint>
    -->
  <joint name="hip_to_outer_leg_right_1" type="prismatic">
    <axis xyz="0 0 1"/>
    <parent link="hip_right_1"/>
    <child link="outer_leg_right_1"/>
    <limit effort="3000.0" lower="0.0" upper="0.14" velocity="0.1"/>
    <origin rpy="0 0 0" xyz="0 0 0"/>
    <dynamics damping="100.0" friction="200.0"/>
  </joint>
  <joint name="outer_to_center_leg_right_1" type="prismatic">
    <axis xyz="0 0 1"/>
    <parent link="outer_leg_right_1"/>
    <child link="center_leg_right_1"/>
    <limit effort="3000.0" lower="0.0" upper="0.14" velocity="0.1"/>
    <origin rpy="0 0 0" xyz="0 0 0"/>
    <dynamics damping="100.0" friction="200.0"/>
  </joint>
  <joint name="center_to_inner_leg_right_1" type="prismatic">
    <axis xyz="0 0 1"/>
    <parent link="center_leg_right_1"/>
    <child link="inner_leg_right_1"/>
    <limit effort="3000.0" lower="0.0" upper="0.14" velocity="0.1"/>
    <origin rpy="0 0 0" xyz="0 0 0"/>
    <dynamics damping="100.0" friction="200.0"/>
  </joint>
  <!--transmission name="base_to_hip_${prefix}">
      <type>transmission_interface/SimpleTransmission</type>
      <actuator name="$base_to_hip_${prefix}">
        <mechanicalReduction>1</mechanicalReduction>
      </actuator>
      <joint name="base_to_hip_${prefix}">
        <hardwareInterface>hardware_interface/VelocityJointInterface</hardwareInterface>
      </joint>
    </transmission-->
  <transmission name="outer_leg_extension_right_1_trans" type="SimpleTransmission">
    <type>transmission_interface/SimpleTransmission</type>
    <actuator name="outer_leg_extension_right_1_motor">
      <hardwareInterface>hardware_interface/PositionJointInterface</hardwareInterface>
      <mechanicalReduction>1</mechanicalReduction>
    </actuator>
    <joint name="hip_to_outer_leg_right_1">
      <hardwareInterface>hardware_interface/PositionJointInterface</hardwareInterface>
    </joint>
  </transmission>
  <transmission name="center_leg_extension_right_1_trans" type="SimpleTransmission">
    <type>transmission_interface/SimpleTransmission</type>
    <actuator name="center_leg_extension_right_1_motor">
      <hardwareInterface>hardware_interface/PositionJointInterface</hardwareInterface>
      <mechanicalReduction>1</mechanicalReduction>
    </actuator>
    <joint name="outer_to_center_leg_right_1">
      <hardwareInterface>hardware_interface/PositionJointInterface</hardwareInterface>
    </joint>
  </transmission>
  <transmission name="inner_leg_extension_right_1_trans" type="SimpleTransmission">
    <type>transmission_interface/SimpleTransmission</type>
    <actuator name="inner_leg_extension_right_1_motor">
      <hardwareInterface>hardware_interface/PositionJointInterface</hardwareInterface>
      <mechanicalReduction>1</mechanicalReduction>
    </actuator>
    <joint name="center_to_inner_leg_right_1">
      <hardwareInterface>hardware_interface/PositionJointInterface</hardwareInterface>
    </joint>
  </transmission>
  <link name="hip_right_3">
    <visual>
      <geometry>
        <cylinder length="0.14" radius="0.02"/>
      </geometry>
      <material name="black"/>
    </visual>
    <collision>
      <geometry>
        <cylinder length="0.14" radius="0.02"/>
      </geometry>
    </collision>
    <inertial>
      <mass value="0.3"/>
      <inertia ixx="0.0004900000000000001" ixy="0.0" ixz="0.0" iyy="0.0" iyz="0.0" izz="0.0004900000000000001"/>
    </inertial>
  </link>
  <link name="outer_leg_right_3">
    <visual>
      <geometry>
        <cylinder length="0.14" radius="0.016"/>
      </geometry>
      <material name="black"/>
    </visual>
    <collision>
      <geometry>
        <cylinder length="0.14" radius="0.016"/>
      </geometry>
    </collision>
    <inertial>
      <mass value="0.24"/>
      <inertia ixx="0.0003920000000000001" ixy="0.0" ixz="0.0" iyy="0.0" iyz="0.0" izz="0.0003920000000000001"/>
    </inertial>
  </link>
  <link name="center_leg_right_3">
    <visual>
      <geometry>
        <cylinder length="0.14" radius="0.012"/>
      </geometry>
      <material name="black"/>
    </visual>
    <collision>
      <geometry>
        <cylinder length="0.14" radius="0.012"/>
      </geometry>
    </collision>
    <inertial>
      <mass value="0.18"/>
      <inertia ixx="0.000294" ixy="0.0" ixz="0.0" iyy="0.000294" iyz="0.0" izz="0.0"/>
    </inertial>
  </link>
  <link name="inner_leg_right_3">
    <visual>
      <geometry>
        <cylinder length="0.14" radius="0.008"/>
      </geometry>
      <material name="black"/>
    </visual>
    <collision>
      <geometry>
        <cylinder length="0.14" radius="0.008"/>
      </geometry>
    </collision>
    <inertial>
      <mass value="0.12"/>
      <inertia ixx="0.00019600000000000005" ixy="0.0" ixz="0.0" iyy="0.00019600000000000005" iyz="0.0" izz="0.0"/>
    </inertial>
  </link>
  <joint name="base_to_hip_right_3" type="fixed">
    <parent link="filler_link"/>
    <child link="hip_right_3"/>
    <origin rpy="0 2.356194490192345 0" xyz="0.09899494936611666 0.4 -0.09899494936611665"/>
  </joint>
  <!--
    <joint name="outer_to_center_leg_${prefix}" type="fixed">
       <parent link="outer_leg_${prefix}"/>
       <child link="center_leg_${prefix}"/>
       <origin xyz="0 0 0.02"/>
    </joint>
    <joint name="center_to_inner_leg_${prefix}" type="fixed">
       <parent link="center_leg_${prefix}"/>
       <child link="inner_leg_${prefix}"/>
       <origin xyz="0 0 0.02"/>
    </joint>
    -->
  <joint name="hip_to_outer_leg_right_3" type="prismatic">
    <axis xyz="0 0 1"/>
    <parent link="hip_right_3"/>
    <child link="outer_leg_right_3"/>
    <limit effort="3000.0" lower="0.0" upper="0.14" velocity="0.1"/>
    <origin rpy="0 0 0" xyz="0 0 0"/>
    <dynamics damping="100.0" friction="200.0"/>
  </joint>
  <joint name="outer_to_center_leg_right_3" type="prismatic">
    <axis xyz="0 0 1"/>
    <parent link="outer_leg_right_3"/>
    <child link="center_leg_right_3"/>
    <limit effort="3000.0" lower="0.0" upper="0.14" velocity="0.1"/>
    <origin rpy="0 0 0" xyz="0 0 0"/>
    <dynamics damping="100.0" friction="200.0"/>
  </joint>
  <joint name="center_to_inner_leg_right_3" type="prismatic">
    <axis xyz="0 0 1"/>
    <parent link="center_leg_right_3"/>
    <child link="inner_leg_right_3"/>
    <limit effort="3000.0" lower="0.0" upper="0.14" velocity="0.1"/>
    <origin rpy="0 0 0" xyz="0 0 0"/>
    <dynamics damping="100.0" friction="200.0"/>
  </joint>
  <!--transmission name="base_to_hip_${prefix}">
      <type>transmission_interface/SimpleTransmission</type>
      <actuator name="$base_to_hip_${prefix}">
        <mechanicalReduction>1</mechanicalReduction>
      </actuator>
      <joint name="base_to_hip_${prefix}">
        <hardwareInterface>hardware_interface/VelocityJointInterface</hardwareInterface>
      </joint>
    </transmission-->
  <transmission name="outer_leg_extension_right_3_trans" type="SimpleTransmission">
    <type>transmission_interface/SimpleTransmission</type>
    <actuator name="outer_leg_extension_right_3_motor">
      <hardwareInterface>hardware_interface/PositionJointInterface</hardwareInterface>
      <mechanicalReduction>1</mechanicalReduction>
    </actuator>
    <joint name="hip_to_outer_leg_right_3">
      <hardwareInterface>hardware_interface/PositionJointInterface</hardwareInterface>
    </joint>
  </transmission>
  <transmission name="center_leg_extension_right_3_trans" type="SimpleTransmission">
    <type>transmission_interface/SimpleTransmission</type>
    <actuator name="center_leg_extension_right_3_motor">
      <hardwareInterface>hardware_interface/PositionJointInterface</hardwareInterface>
      <mechanicalReduction>1</mechanicalReduction>
    </actuator>
    <joint name="outer_to_center_leg_right_3">
      <hardwareInterface>hardware_interface/PositionJointInterface</hardwareInterface>
    </joint>
  </transmission>
  <transmission name="inner_leg_extension_right_3_trans" type="SimpleTransmission">
    <type>transmission_interface/SimpleTransmission</type>
    <actuator name="inner_leg_extension_right_3_motor">
      <hardwareInterface>hardware_interface/PositionJointInterface</hardwareInterface>
      <mechanicalReduction>1</mechanicalReduction>
    </actuator>
    <joint name="center_to_inner_leg_right_3">
      <hardwareInterface>hardware_interface/PositionJointInterface</hardwareInterface>
    </joint>
  </transmission>
  <link name="hip_right_5">
    <visual>
      <geometry>
        <cylinder length="0.14" radius="0.02"/>
      </geometry>
      <material name="black"/>
    </visual>
    <collision>
      <geometry>
        <cylinder length="0.14" radius="0.02"/>
      </geometry>
    </collision>
    <inertial>
      <mass value="0.3"/>
      <inertia ixx="0.0004900000000000001" ixy="0.0" ixz="0.0" iyy="0.0" iyz="0.0" izz="0.0004900000000000001"/>
    </inertial>
  </link>
  <link name="outer_leg_right_5">
    <visual>
      <geometry>
        <cylinder length="0.14" radius="0.016"/>
      </geometry>
      <material name="black"/>
    </visual>
    <collision>
      <geometry>
        <cylinder length="0.14" radius="0.016"/>
      </geometry>
    </collision>
    <inertial>
      <mass value="0.24"/>
      <inertia ixx="0.0003920000000000001" ixy="0.0" ixz="0.0" iyy="0.0" iyz="0.0" izz="0.0003920000000000001"/>
    </inertial>
  </link>
  <link name="center_leg_right_5">
    <visual>
      <geometry>
        <cylinder length="0.14" radius="0.012"/>
      </geometry>
      <material name="black"/>
    </visual>
    <collision>
      <geometry>
        <cylinder length="0.14" radius="0.012"/>
      </geometry>
    </collision>
    <inertial>
      <mass value="0.18"/>
      <inertia ixx="0.000294" ixy="0.0" ixz="0.0" iyy="0.000294" iyz="0.0" izz="0.0"/>
    </inertial>
  </link>
  <link name="inner_leg_right_5">
    <visual>
      <geometry>
        <cylinder length="0.14" radius="0.008"/>
      </geometry>
      <material name="black"/>
    </visual>
    <collision>
      <geometry>
        <cylinder length="0.14" radius="0.008"/>
      </geometry>
    </collision>
    <inertial>
      <mass value="0.12"/>
      <inertia ixx="0.00019600000000000005" ixy="0.0" ixz="0.0" iyy="0.00019600000000000005" iyz="0.0" izz="0.0"/>
    </inertial>
  </link>
  <joint name="base_to_hip_right_5" type="fixed">
    <parent link="filler_link"/>
    <child link="hip_right_5"/>
    <origin rpy="0 3.9269908169872414 0" xyz="-0.09899494936611665 0.4 -0.09899494936611669"/>
  </joint>
  <!--
    <joint name="outer_to_center_leg_${prefix}" type="fixed">
       <parent link="outer_leg_${prefix}"/>
       <child link="center_leg_${prefix}"/>
       <origin xyz="0 0 0.02"/>
    </joint>
    <joint name="center_to_inner_leg_${prefix}" type="fixed">
       <parent link="center_leg_${prefix}"/>
       <child link="inner_leg_${prefix}"/>
       <origin xyz="0 0 0.02"/>
    </joint>
    -->
  <joint name="hip_to_outer_leg_right_5" type="prismatic">
    <axis xyz="0 0 1"/>
    <parent link="hip_right_5"/>
    <child link="outer_leg_right_5"/>
    <limit effort="3000.0" lower="0.0" upper="0.14" velocity="0.1"/>
    <origin rpy="0 0 0" xyz="0 0 0"/>
    <dynamics damping="100.0" friction="200.0"/>
  </joint>
  <joint name="outer_to_center_leg_right_5" type="prismatic">
    <axis xyz="0 0 1"/>
    <parent link="outer_leg_right_5"/>
    <child link="center_leg_right_5"/>
    <limit effort="3000.0" lower="0.0" upper="0.14" velocity="0.1"/>
    <origin rpy="0 0 0" xyz="0 0 0"/>
    <dynamics damping="100.0" friction="200.0"/>
  </joint>
  <joint name="center_to_inner_leg_right_5" type="prismatic">
    <axis xyz="0 0 1"/>
    <parent link="center_leg_right_5"/>
    <child link="inner_leg_right_5"/>
    <limit effort="3000.0" lower="0.0" upper="0.14" velocity="0.1"/>
    <origin rpy="0 0 0" xyz="0 0 0"/>
    <dynamics damping="100.0" friction="200.0"/>
  </joint>
  <!--transmission name="base_to_hip_${prefix}">
      <type>transmission_interface/SimpleTransmission</type>
      <actuator name="$base_to_hip_${prefix}">
        <mechanicalReduction>1</mechanicalReduction>
      </actuator>
      <joint name="base_to_hip_${prefix}">
        <hardwareInterface>hardware_interface/VelocityJointInterface</hardwareInterface>
      </joint>
    </transmission-->
  <transmission name="outer_leg_extension_right_5_trans" type="SimpleTransmission">
    <type>transmission_interface/SimpleTransmission</type>
    <actuator name="outer_leg_extension_right_5_motor">
      <hardwareInterface>hardware_interface/PositionJointInterface</hardwareInterface>
      <mechanicalReduction>1</mechanicalReduction>
    </actuator>
    <joint name="hip_to_outer_leg_right_5">
      <hardwareInterface>hardware_interface/PositionJointInterface</hardwareInterface>
    </joint>
  </transmission>
  <transmission name="center_leg_extension_right_5_trans" type="SimpleTransmission">
    <type>transmission_interface/SimpleTransmission</type>
    <actuator name="center_leg_extension_right_5_motor">
      <hardwareInterface>hardware_interface/PositionJointInterface</hardwareInterface>
      <mechanicalReduction>1</mechanicalReduction>
    </actuator>
    <joint name="outer_to_center_leg_right_5">
      <hardwareInterface>hardware_interface/PositionJointInterface</hardwareInterface>
    </joint>
  </transmission>
  <transmission name="inner_leg_extension_right_5_trans" type="SimpleTransmission">
    <type>transmission_interface/SimpleTransmission</type>
    <actuator name="inner_leg_extension_right_5_motor">
      <hardwareInterface>hardware_interface/PositionJointInterface</hardwareInterface>
      <mechanicalReduction>1</mechanicalReduction>
    </actuator>
    <joint name="center_to_inner_leg_right_5">
      <hardwareInterface>hardware_interface/PositionJointInterface</hardwareInterface>
    </joint>
  </transmission>
  <link name="hip_right_7">
    <visual>
      <geometry>
        <cylinder length="0.14" radius="0.02"/>
      </geometry>
      <material name="black"/>
    </visual>
    <collision>
      <geometry>
        <cylinder length="0.14" radius="0.02"/>
      </geometry>
    </collision>
    <inertial>
      <mass value="0.3"/>
      <inertia ixx="0.0004900000000000001" ixy="0.0" ixz="0.0" iyy="0.0" iyz="0.0" izz="0.0004900000000000001"/>
    </inertial>
  </link>
  <link name="outer_leg_right_7">
    <visual>
      <geometry>
        <cylinder length="0.14" radius="0.016"/>
      </geometry>
      <material name="black"/>
    </visual>
    <collision>
      <geometry>
        <cylinder length="0.14" radius="0.016"/>
      </geometry>
    </collision>
    <inertial>
      <mass value="0.24"/>
      <inertia ixx="0.0003920000000000001" ixy="0.0" ixz="0.0" iyy="0.0" iyz="0.0" izz="0.0003920000000000001"/>
    </inertial>
  </link>
  <link name="center_leg_right_7">
    <visual>
      <geometry>
        <cylinder length="0.14" radius="0.012"/>
      </geometry>
      <material name="black"/>
    </visual>
    <collision>
      <geometry>
        <cylinder length="0.14" radius="0.012"/>
      </geometry>
    </collision>
    <inertial>
      <mass value="0.18"/>
      <inertia ixx="0.000294" ixy="0.0" ixz="0.0" iyy="0.000294" iyz="0.0" izz="0.0"/>
    </inertial>
  </link>
  <link name="inner_leg_right_7">
    <visual>
      <geometry>
        <cylinder length="0.14" radius="0.008"/>
      </geometry>
      <material name="black"/>
    </visual>
    <collision>
      <geometry>
        <cylinder length="0.14" radius="0.008"/>
      </geometry>
    </collision>
    <inertial>
      <mass value="0.12"/>
      <inertia ixx="0.00019600000000000005" ixy="0.0" ixz="0.0" iyy="0.00019600000000000005" iyz="0.0" izz="0.0"/>
    </inertial>
  </link>
  <joint name="base_to_hip_right_7" type="fixed">
    <parent link="filler_link"/>
    <child link="hip_right_7"/>
    <origin rpy="0 5.497787143782138 0" xyz="-0.09899494936611669 0.4 0.09899494936611664"/>
  </joint>
  <!--
    <joint name="outer_to_center_leg_${prefix}" type="fixed">
       <parent link="outer_leg_${prefix}"/>
       <child link="center_leg_${prefix}"/>
       <origin xyz="0 0 0.02"/>
    </joint>
    <joint name="center_to_inner_leg_${prefix}" type="fixed">
       <parent link="center_leg_${prefix}"/>
       <child link="inner_leg_${prefix}"/>
       <origin xyz="0 0 0.02"/>
    </joint>
    -->
  <joint name="hip_to_outer_leg_right_7" type="prismatic">
    <axis xyz="0 0 1"/>
    <parent link="hip_right_7"/>
    <child link="outer_leg_right_7"/>
    <limit effort="3000.0" lower="0.0" upper="0.14" velocity="0.1"/>
    <origin rpy="0 0 0" xyz="0 0 0"/>
    <dynamics damping="100.0" friction="200.0"/>
  </joint>
  <joint name="outer_to_center_leg_right_7" type="prismatic">
    <axis xyz="0 0 1"/>
    <parent link="outer_leg_right_7"/>
    <child link="center_leg_right_7"/>
    <limit effort="3000.0" lower="0.0" upper="0.14" velocity="0.1"/>
    <origin rpy="0 0 0" xyz="0 0 0"/>
    <dynamics damping="100.0" friction="200.0"/>
  </joint>
  <joint name="center_to_inner_leg_right_7" type="prismatic">
    <axis xyz="0 0 1"/>
    <parent link="center_leg_right_7"/>
    <child link="inner_leg_right_7"/>
    <limit effort="3000.0" lower="0.0" upper="0.14" velocity="0.1"/>
    <origin rpy="0 0 0" xyz="0 0 0"/>
    <dynamics damping="100.0" friction="200.0"/>
  </joint>
  <!--transmission name="base_to_hip_${prefix}">
      <type>transmission_interface/SimpleTransmission</type>
      <actuator name="$base_to_hip_${prefix}">
        <mechanicalReduction>1</mechanicalReduction>
      </actuator>
      <joint name="base_to_hip_${prefix}">
        <hardwareInterface>hardware_interface/VelocityJointInterface</hardwareInterface>
      </joint>
    </transmission-->
  <transmission name="outer_leg_extension_right_7_trans" type="SimpleTransmission">
    <type>transmission_interface/SimpleTransmission</type>
    <actuator name="outer_leg_extension_right_7_motor">
      <hardwareInterface>hardware_interface/PositionJointInterface</hardwareInterface>
      <mechanicalReduction>1</mechanicalReduction>
    </actuator>
    <joint name="hip_to_outer_leg_right_7">
      <hardwareInterface>hardware_interface/PositionJointInterface</hardwareInterface>
    </joint>
  </transmission>
  <transmission name="center_leg_extension_right_7_trans" type="SimpleTransmission">
    <type>transmission_interface/SimpleTransmission</type>
    <actuator name="center_leg_extension_right_7_motor">
      <hardwareInterface>hardware_interface/PositionJointInterface</hardwareInterface>
      <mechanicalReduction>1</mechanicalReduction>
    </actuator>
    <joint name="outer_to_center_leg_right_7">
      <hardwareInterface>hardware_interface/PositionJointInterface</hardwareInterface>
    </joint>
  </transmission>
  <transmission name="inner_leg_extension_right_7_trans" type="SimpleTransmission">
    <type>transmission_interface/SimpleTransmission</type>
    <actuator name="inner_leg_extension_right_7_motor">
      <hardwareInterface>hardware_interface/PositionJointInterface</hardwareInterface>
      <mechanicalReduction>1</mechanicalReduction>
    </actuator>
    <joint name="center_to_inner_leg_right_7">
      <hardwareInterface>hardware_interface/PositionJointInterface</hardwareInterface>
    </joint>
  </transmission>
  <link name="hip_left_0">
    <visual>
      <geometry>
        <cylinder length="0.14" radius="0.02"/>
      </geometry>
      <material name="black"/>
    </visual>
    <collision>
      <geometry>
        <cylinder length="0.14" radius="0.02"/>
      </geometry>
    </collision>
    <inertial>
      <mass value="0.3"/>
      <inertia ixx="0.0004900000000000001" ixy="0.0" ixz="0.0" iyy="0.0" iyz="0.0" izz="0.0004900000000000001"/>
    </inertial>
  </link>
  <link name="outer_leg_left_0">
    <visual>
      <geometry>
        <cylinder length="0.14" radius="0.016"/>
      </geometry>
      <material name="black"/>
    </visual>
    <collision>
      <geometry>
        <cylinder length="0.14" radius="0.016"/>
      </geometry>
    </collision>
    <inertial>
      <mass value="0.24"/>
      <inertia ixx="0.0003920000000000001" ixy="0.0" ixz="0.0" iyy="0.0" iyz="0.0" izz="0.0003920000000000001"/>
    </inertial>
  </link>
  <link name="center_leg_left_0">
    <visual>
      <geometry>
        <cylinder length="0.14" radius="0.012"/>
      </geometry>
      <material name="black"/>
    </visual>
    <collision>
      <geometry>
        <cylinder length="0.14" radius="0.012"/>
      </geometry>
    </collision>
    <inertial>
      <mass value="0.18"/>
      <inertia ixx="0.000294" ixy="0.0" ixz="0.0" iyy="0.000294" iyz="0.0" izz="0.0"/>
    </inertial>
  </link>
  <link name="inner_leg_left_0">
    <visual>
      <geometry>
        <cylinder length="0.14" radius="0.008"/>
      </geometry>
      <material name="black"/>
    </visual>
    <collision>
      <geometry>
        <cylinder length="0.14" radius="0.008"/>
      </geometry>
    </collision>
    <inertial>
      <mass value="0.12"/>
      <inertia ixx="0.00019600000000000005" ixy="0.0" ixz="0.0" iyy="0.00019600000000000005" iyz="0.0" izz="0.0"/>
    </inertial>
  </link>
  <joint name="base_to_hip_left_0" type="fixed">
    <parent link="filler_link"/>
    <child link="hip_left_0"/>
    <origin rpy="0 0.0 0" xyz="0.0 -0.4 0.14"/>
  </joint>
  <!--
    <joint name="outer_to_center_leg_${prefix}" type="fixed">
       <parent link="outer_leg_${prefix}"/>
       <child link="center_leg_${prefix}"/>
       <origin xyz="0 0 0.02"/>
    </joint>
    <joint name="center_to_inner_leg_${prefix}" type="fixed">
       <parent link="center_leg_${prefix}"/>
       <child link="inner_leg_${prefix}"/>
       <origin xyz="0 0 0.02"/>
    </joint>
    -->
  <joint name="hip_to_outer_leg_left_0" type="prismatic">
    <axis xyz="0 0 1"/>
    <parent link="hip_left_0"/>
    <child link="outer_leg_left_0"/>
    <limit effort="3000.0" lower="0.0" upper="0.14" velocity="0.1"/>
    <origin rpy="0 0 0" xyz="0 0 0"/>
    <dynamics damping="100.0" friction="200.0"/>
  </joint>
  <joint name="outer_to_center_leg_left_0" type="prismatic">
    <axis xyz="0 0 1"/>
    <parent link="outer_leg_left_0"/>
    <child link="center_leg_left_0"/>
    <limit effort="3000.0" lower="0.0" upper="0.14" velocity="0.1"/>
    <origin rpy="0 0 0" xyz="0 0 0"/>
    <dynamics damping="100.0" friction="200.0"/>
  </joint>
  <joint name="center_to_inner_leg_left_0" type="prismatic">
    <axis xyz="0 0 1"/>
    <parent link="center_leg_left_0"/>
    <child link="inner_leg_left_0"/>
    <limit effort="3000.0" lower="0.0" upper="0.14" velocity="0.1"/>
    <origin rpy="0 0 0" xyz="0 0 0"/>
    <dynamics damping="100.0" friction="200.0"/>
  </joint>
  <!--transmission name="base_to_hip_${prefix}">
      <type>transmission_interface/SimpleTransmission</type>
      <actuator name="$base_to_hip_${prefix}">
        <mechanicalReduction>1</mechanicalReduction>
      </actuator>
      <joint name="base_to_hip_${prefix}">
        <hardwareInterface>hardware_interface/VelocityJointInterface</hardwareInterface>
      </joint>
    </transmission-->
  <transmission name="outer_leg_extension_left_0_trans" type="SimpleTransmission">
    <type>transmission_interface/SimpleTransmission</type>
    <actuator name="outer_leg_extension_left_0_motor">
      <hardwareInterface>hardware_interface/PositionJointInterface</hardwareInterface>
      <mechanicalReduction>1</mechanicalReduction>
    </actuator>
    <joint name="hip_to_outer_leg_left_0">
      <hardwareInterface>hardware_interface/PositionJointInterface</hardwareInterface>
    </joint>
  </transmission>
  <transmission name="center_leg_extension_left_0_trans" type="SimpleTransmission">
    <type>transmission_interface/SimpleTransmission</type>
    <actuator name="center_leg_extension_left_0_motor">
      <hardwareInterface>hardware_interface/PositionJointInterface</hardwareInterface>
      <mechanicalReduction>1</mechanicalReduction>
    </actuator>
    <joint name="outer_to_center_leg_left_0">
      <hardwareInterface>hardware_interface/PositionJointInterface</hardwareInterface>
    </joint>
  </transmission>
  <transmission name="inner_leg_extension_left_0_trans" type="SimpleTransmission">
    <type>transmission_interface/SimpleTransmission</type>
    <actuator name="inner_leg_extension_left_0_motor">
      <hardwareInterface>hardware_interface/PositionJointInterface</hardwareInterface>
      <mechanicalReduction>1</mechanicalReduction>
    </actuator>
    <joint name="center_to_inner_leg_left_0">
      <hardwareInterface>hardware_interface/PositionJointInterface</hardwareInterface>
    </joint>
  </transmission>
  <link name="hip_left_2">
    <visual>
      <geometry>
        <cylinder length="0.14" radius="0.02"/>
      </geometry>
      <material name="black"/>
    </visual>
    <collision>
      <geometry>
        <cylinder length="0.14" radius="0.02"/>
      </geometry>
    </collision>
    <inertial>
      <mass value="0.3"/>
      <inertia ixx="0.0004900000000000001" ixy="0.0" ixz="0.0" iyy="0.0" iyz="0.0" izz="0.0004900000000000001"/>
    </inertial>
  </link>
  <link name="outer_leg_left_2">
    <visual>
      <geometry>
        <cylinder length="0.14" radius="0.016"/>
      </geometry>
      <material name="black"/>
    </visual>
    <collision>
      <geometry>
        <cylinder length="0.14" radius="0.016"/>
      </geometry>
    </collision>
    <inertial>
      <mass value="0.24"/>
      <inertia ixx="0.0003920000000000001" ixy="0.0" ixz="0.0" iyy="0.0" iyz="0.0" izz="0.0003920000000000001"/>
    </inertial>
  </link>
  <link name="center_leg_left_2">
    <visual>
      <geometry>
        <cylinder length="0.14" radius="0.012"/>
      </geometry>
      <material name="black"/>
    </visual>
    <collision>
      <geometry>
        <cylinder length="0.14" radius="0.012"/>
      </geometry>
    </collision>
    <inertial>
      <mass value="0.18"/>
      <inertia ixx="0.000294" ixy="0.0" ixz="0.0" iyy="0.000294" iyz="0.0" izz="0.0"/>
    </inertial>
  </link>
  <link name="inner_leg_left_2">
    <visual>
      <geometry>
        <cylinder length="0.14" radius="0.008"/>
      </geometry>
      <material name="black"/>
    </visual>
    <collision>
      <geometry>
        <cylinder length="0.14" radius="0.008"/>
      </geometry>
    </collision>
    <inertial>
      <mass value="0.12"/>
      <inertia ixx="0.00019600000000000005" ixy="0.0" ixz="0.0" iyy="0.00019600000000000005" iyz="0.0" izz="0.0"/>
    </inertial>
  </link>
  <joint name="base_to_hip_left_2" type="fixed">
    <parent link="filler_link"/>
    <child link="hip_left_2"/>
    <origin rpy="0 1.5707963267948966 0" xyz="0.14 -0.4 8.572527594031473e-18"/>
  </joint>
  <!--
    <joint name="outer_to_center_leg_${prefix}" type="fixed">
       <parent link="outer_leg_${prefix}"/>
       <child link="center_leg_${prefix}"/>
       <origin xyz="0 0 0.02"/>
    </joint>
    <joint name="center_to_inner_leg_${prefix}" type="fixed">
       <parent link="center_leg_${prefix}"/>
       <child link="inner_leg_${prefix}"/>
       <origin xyz="0 0 0.02"/>
    </joint>
    -->
  <joint name="hip_to_outer_leg_left_2" type="prismatic">
    <axis xyz="0 0 1"/>
    <parent link="hip_left_2"/>
    <child link="outer_leg_left_2"/>
    <limit effort="3000.0" lower="0.0" upper="0.14" velocity="0.1"/>
    <origin rpy="0 0 0" xyz="0 0 0"/>
    <dynamics damping="100.0" friction="200.0"/>
  </joint>
  <joint name="outer_to_center_leg_left_2" type="prismatic">
    <axis xyz="0 0 1"/>
    <parent link="outer_leg_left_2"/>
    <child link="center_leg_left_2"/>
    <limit effort="3000.0" lower="0.0" upper="0.14" velocity="0.1"/>
    <origin rpy="0 0 0" xyz="0 0 0"/>
    <dynamics damping="100.0" friction="200.0"/>
  </joint>
  <joint name="center_to_inner_leg_left_2" type="prismatic">
    <axis xyz="0 0 1"/>
    <parent link="center_leg_left_2"/>
    <child link="inner_leg_left_2"/>
    <limit effort="3000.0" lower="0.0" upper="0.14" velocity="0.1"/>
    <origin rpy="0 0 0" xyz="0 0 0"/>
    <dynamics damping="100.0" friction="200.0"/>
  </joint>
  <!--transmission name="base_to_hip_${prefix}">
      <type>transmission_interface/SimpleTransmission</type>
      <actuator name="$base_to_hip_${prefix}">
        <mechanicalReduction>1</mechanicalReduction>
      </actuator>
      <joint name="base_to_hip_${prefix}">
        <hardwareInterface>hardware_interface/VelocityJointInterface</hardwareInterface>
      </joint>
    </transmission-->
  <transmission name="outer_leg_extension_left_2_trans" type="SimpleTransmission">
    <type>transmission_interface/SimpleTransmission</type>
    <actuator name="outer_leg_extension_left_2_motor">
      <hardwareInterface>hardware_interface/PositionJointInterface</hardwareInterface>
      <mechanicalReduction>1</mechanicalReduction>
    </actuator>
    <joint name="hip_to_outer_leg_left_2">
      <hardwareInterface>hardware_interface/PositionJointInterface</hardwareInterface>
    </joint>
  </transmission>
  <transmission name="center_leg_extension_left_2_trans" type="SimpleTransmission">
    <type>transmission_interface/SimpleTransmission</type>
    <actuator name="center_leg_extension_left_2_motor">
      <hardwareInterface>hardware_interface/PositionJointInterface</hardwareInterface>
      <mechanicalReduction>1</mechanicalReduction>
    </actuator>
    <joint name="outer_to_center_leg_left_2">
      <hardwareInterface>hardware_interface/PositionJointInterface</hardwareInterface>
    </joint>
  </transmission>
  <transmission name="inner_leg_extension_left_2_trans" type="SimpleTransmission">
    <type>transmission_interface/SimpleTransmission</type>
    <actuator name="inner_leg_extension_left_2_motor">
      <hardwareInterface>hardware_interface/PositionJointInterface</hardwareInterface>
      <mechanicalReduction>1</mechanicalReduction>
    </actuator>
    <joint name="center_to_inner_leg_left_2">
      <hardwareInterface>hardware_interface/PositionJointInterface</hardwareInterface>
    </joint>
  </transmission>
  <link name="hip_left_4">
    <visual>
      <geometry>
        <cylinder length="0.14" radius="0.02"/>
      </geometry>
      <material name="black"/>
    </visual>
    <collision>
      <geometry>
        <cylinder length="0.14" radius="0.02"/>
      </geometry>
    </collision>
    <inertial>
      <mass value="0.3"/>
      <inertia ixx="0.0004900000000000001" ixy="0.0" ixz="0.0" iyy="0.0" iyz="0.0" izz="0.0004900000000000001"/>
    </inertial>
  </link>
  <link name="outer_leg_left_4">
    <visual>
      <geometry>
        <cylinder length="0.14" radius="0.016"/>
      </geometry>
      <material name="black"/>
    </visual>
    <collision>
      <geometry>
        <cylinder length="0.14" radius="0.016"/>
      </geometry>
    </collision>
    <inertial>
      <mass value="0.24"/>
      <inertia ixx="0.0003920000000000001" ixy="0.0" ixz="0.0" iyy="0.0" iyz="0.0" izz="0.0003920000000000001"/>
    </inertial>
  </link>
  <link name="center_leg_left_4">
    <visual>
      <geometry>
        <cylinder length="0.14" radius="0.012"/>
      </geometry>
      <material name="black"/>
    </visual>
    <collision>
      <geometry>
        <cylinder length="0.14" radius="0.012"/>
      </geometry>
    </collision>
    <inertial>
      <mass value="0.18"/>
      <inertia ixx="0.000294" ixy="0.0" ixz="0.0" iyy="0.000294" iyz="0.0" izz="0.0"/>
    </inertial>
  </link>
  <link name="inner_leg_left_4">
    <visual>
      <geometry>
        <cylinder length="0.14" radius="0.008"/>
      </geometry>
      <material name="black"/>
    </visual>
    <collision>
      <geometry>
        <cylinder length="0.14" radius="0.008"/>
      </geometry>
    </collision>
    <inertial>
      <mass value="0.12"/>
      <inertia ixx="0.00019600000000000005" ixy="0.0" ixz="0.0" iyy="0.00019600000000000005" iyz="0.0" izz="0.0"/>
    </inertial>
  </link>
  <joint name="base_to_hip_left_4" type="fixed">
    <parent link="filler_link"/>
    <child link="hip_left_4"/>
    <origin rpy="0 3.141592653589793 0" xyz="1.7145055188062947e-17 -0.4 -0.14"/>
  </joint>
  <!--
    <joint name="outer_to_center_leg_${prefix}" type="fixed">
       <parent link="outer_leg_${prefix}"/>
       <child link="center_leg_${prefix}"/>
       <origin xyz="0 0 0.02"/>
    </joint>
    <joint name="center_to_inner_leg_${prefix}" type="fixed">
       <parent link="center_leg_${prefix}"/>
       <child link="inner_leg_${prefix}"/>
       <origin xyz="0 0 0.02"/>
    </joint>
    -->
  <joint name="hip_to_outer_leg_left_4" type="prismatic">
    <axis xyz="0 0 1"/>
    <parent link="hip_left_4"/>
    <child link="outer_leg_left_4"/>
    <limit effort="3000.0" lower="0.0" upper="0.14" velocity="0.1"/>
    <origin rpy="0 0 0" xyz="0 0 0"/>
    <dynamics damping="100.0" friction="200.0"/>
  </joint>
  <joint name="outer_to_center_leg_left_4" type="prismatic">
    <axis xyz="0 0 1"/>
    <parent link="outer_leg_left_4"/>
    <child link="center_leg_left_4"/>
    <limit effort="3000.0" lower="0.0" upper="0.14" velocity="0.1"/>
    <origin rpy="0 0 0" xyz="0 0 0"/>
    <dynamics damping="100.0" friction="200.0"/>
  </joint>
  <joint name="center_to_inner_leg_left_4" type="prismatic">
    <axis xyz="0 0 1"/>
    <parent link="center_leg_left_4"/>
    <child link="inner_leg_left_4"/>
    <limit effort="3000.0" lower="0.0" upper="0.14" velocity="0.1"/>
    <origin rpy="0 0 0" xyz="0 0 0"/>
    <dynamics damping="100.0" friction="200.0"/>
  </joint>
  <!--transmission name="base_to_hip_${prefix}">
      <type>transmission_interface/SimpleTransmission</type>
      <actuator name="$base_to_hip_${prefix}">
        <mechanicalReduction>1</mechanicalReduction>
      </actuator>
      <joint name="base_to_hip_${prefix}">
        <hardwareInterface>hardware_interface/VelocityJointInterface</hardwareInterface>
      </joint>
    </transmission-->
  <transmission name="outer_leg_extension_left_4_trans" type="SimpleTransmission">
    <type>transmission_interface/SimpleTransmission</type>
    <actuator name="outer_leg_extension_left_4_motor">
      <hardwareInterface>hardware_interface/PositionJointInterface</hardwareInterface>
      <mechanicalReduction>1</mechanicalReduction>
    </actuator>
    <joint name="hip_to_outer_leg_left_4">
      <hardwareInterface>hardware_interface/PositionJointInterface</hardwareInterface>
    </joint>
  </transmission>
  <transmission name="center_leg_extension_left_4_trans" type="SimpleTransmission">
    <type>transmission_interface/SimpleTransmission</type>
    <actuator name="center_leg_extension_left_4_motor">
      <hardwareInterface>hardware_interface/PositionJointInterface</hardwareInterface>
      <mechanicalReduction>1</mechanicalReduction>
    </actuator>
    <joint name="outer_to_center_leg_left_4">
      <hardwareInterface>hardware_interface/PositionJointInterface</hardwareInterface>
    </joint>
  </transmission>
  <transmission name="inner_leg_extension_left_4_trans" type="SimpleTransmission">
    <type>transmission_interface/SimpleTransmission</type>
    <actuator name="inner_leg_extension_left_4_motor">
      <hardwareInterface>hardware_interface/PositionJointInterface</hardwareInterface>
      <mechanicalReduction>1</mechanicalReduction>
    </actuator>
    <joint name="center_to_inner_leg_left_4">
      <hardwareInterface>hardware_interface/PositionJointInterface</hardwareInterface>
    </joint>
  </transmission>
  <link name="hip_left_6">
    <visual>
      <geometry>
        <cylinder length="0.14" radius="0.02"/>
      </geometry>
      <material name="black"/>
    </visual>
    <collision>
      <geometry>
        <cylinder length="0.14" radius="0.02"/>
      </geometry>
    </collision>
    <inertial>
      <mass value="0.3"/>
      <inertia ixx="0.0004900000000000001" ixy="0.0" ixz="0.0" iyy="0.0" iyz="0.0" izz="0.0004900000000000001"/>
    </inertial>
  </link>
  <link name="outer_leg_left_6">
    <visual>
      <geometry>
        <cylinder length="0.14" radius="0.016"/>
      </geometry>
      <material name="black"/>
    </visual>
    <collision>
      <geometry>
        <cylinder length="0.14" radius="0.016"/>
      </geometry>
    </collision>
    <inertial>
      <mass value="0.24"/>
      <inertia ixx="0.0003920000000000001" ixy="0.0" ixz="0.0" iyy="0.0" iyz="0.0" izz="0.0003920000000000001"/>
    </inertial>
  </link>
  <link name="center_leg_left_6">
    <visual>
      <geometry>
        <cylinder length="0.14" radius="0.012"/>
      </geometry>
      <material name="black"/>
    </visual>
    <collision>
      <geometry>
        <cylinder length="0.14" radius="0.012"/>
      </geometry>
    </collision>
    <inertial>
      <mass value="0.18"/>
      <inertia ixx="0.000294" ixy="0.0" ixz="0.0" iyy="0.000294" iyz="0.0" izz="0.0"/>
    </inertial>
  </link>
  <link name="inner_leg_left_6">
    <visual>
      <geometry>
        <cylinder length="0.14" radius="0.008"/>
      </geometry>
      <material name="black"/>
    </visual>
    <collision>
      <geometry>
        <cylinder length="0.14" radius="0.008"/>
      </geometry>
    </collision>
    <inertial>
      <mass value="0.12"/>
      <inertia ixx="0.00019600000000000005" ixy="0.0" ixz="0.0" iyy="0.00019600000000000005" iyz="0.0" izz="0.0"/>
    </inertial>
  </link>
  <joint name="base_to_hip_left_6" type="fixed">
    <parent link="filler_link"/>
    <child link="hip_left_6"/>
    <origin rpy="0 4.71238898038469 0" xyz="-0.14 -0.4 -2.571758278209442e-17"/>
  </joint>
  <!--
    <joint name="outer_to_center_leg_${prefix}" type="fixed">
       <parent link="outer_leg_${prefix}"/>
       <child link="center_leg_${prefix}"/>
       <origin xyz="0 0 0.02"/>
    </joint>
    <joint name="center_to_inner_leg_${prefix}" type="fixed">
       <parent link="center_leg_${prefix}"/>
       <child link="inner_leg_${prefix}"/>
       <origin xyz="0 0 0.02"/>
    </joint>
    -->
  <joint name="hip_to_outer_leg_left_6" type="prismatic">
    <axis xyz="0 0 1"/>
    <parent link="hip_left_6"/>
    <child link="outer_leg_left_6"/>
    <limit effort="3000.0" lower="0.0" upper="0.14" velocity="0.1"/>
    <origin rpy="0 0 0" xyz="0 0 0"/>
    <dynamics damping="100.0" friction="200.0"/>
  </joint>
  <joint name="outer_to_center_leg_left_6" type="prismatic">
    <axis xyz="0 0 1"/>
    <parent link="outer_leg_left_6"/>
    <child link="center_leg_left_6"/>
    <limit effort="3000.0" lower="0.0" upper="0.14" velocity="0.1"/>
    <origin rpy="0 0 0" xyz="0 0 0"/>
    <dynamics damping="100.0" friction="200.0"/>
  </joint>
  <joint name="center_to_inner_leg_left_6" type="prismatic">
    <axis xyz="0 0 1"/>
    <parent link="center_leg_left_6"/>
    <child link="inner_leg_left_6"/>
    <limit effort="3000.0" lower="0.0" upper="0.14" velocity="0.1"/>
    <origin rpy="0 0 0" xyz="0 0 0"/>
    <dynamics damping="100.0" friction="200.0"/>
  </joint>
  <!--transmission name="base_to_hip_${prefix}">
      <type>transmission_interface/SimpleTransmission</type>
      <actuator name="$base_to_hip_${prefix}">
        <mechanicalReduction>1</mechanicalReduction>
      </actuator>
      <joint name="base_to_hip_${prefix}">
        <hardwareInterface>hardware_interface/VelocityJointInterface</hardwareInterface>
      </joint>
    </transmission-->
  <transmission name="outer_leg_extension_left_6_trans" type="SimpleTransmission">
    <type>transmission_interface/SimpleTransmission</type>
    <actuator name="outer_leg_extension_left_6_motor">
      <hardwareInterface>hardware_interface/PositionJointInterface</hardwareInterface>
      <mechanicalReduction>1</mechanicalReduction>
    </actuator>
    <joint name="hip_to_outer_leg_left_6">
      <hardwareInterface>hardware_interface/PositionJointInterface</hardwareInterface>
    </joint>
  </transmission>
  <transmission name="center_leg_extension_left_6_trans" type="SimpleTransmission">
    <type>transmission_interface/SimpleTransmission</type>
    <actuator name="center_leg_extension_left_6_motor">
      <hardwareInterface>hardware_interface/PositionJointInterface</hardwareInterface>
      <mechanicalReduction>1</mechanicalReduction>
    </actuator>
    <joint name="outer_to_center_leg_left_6">
      <hardwareInterface>hardware_interface/PositionJointInterface</hardwareInterface>
    </joint>
  </transmission>
  <transmission name="inner_leg_extension_left_6_trans" type="SimpleTransmission">
    <type>transmission_interface/SimpleTransmission</type>
    <actuator name="inner_leg_extension_left_6_motor">
      <hardwareInterface>hardware_interface/PositionJointInterface</hardwareInterface>
      <mechanicalReduction>1</mechanicalReduction>
    </actuator>
    <joint name="center_to_inner_leg_left_6">
      <hardwareInterface>hardware_interface/PositionJointInterface</hardwareInterface>
    </joint>
  </transmission>
  <link name="hip_left_1">
    <visual>
      <geometry>
        <cylinder length="0.14" radius="0.02"/>
      </geometry>
      <material name="black"/>
    </visual>
    <collision>
      <geometry>
        <cylinder length="0.14" radius="0.02"/>
      </geometry>
    </collision>
    <inertial>
      <mass value="0.3"/>
      <inertia ixx="0.0004900000000000001" ixy="0.0" ixz="0.0" iyy="0.0" iyz="0.0" izz="0.0004900000000000001"/>
    </inertial>
  </link>
  <link name="outer_leg_left_1">
    <visual>
      <geometry>
        <cylinder length="0.14" radius="0.016"/>
      </geometry>
      <material name="black"/>
    </visual>
    <collision>
      <geometry>
        <cylinder length="0.14" radius="0.016"/>
      </geometry>
    </collision>
    <inertial>
      <mass value="0.24"/>
      <inertia ixx="0.0003920000000000001" ixy="0.0" ixz="0.0" iyy="0.0" iyz="0.0" izz="0.0003920000000000001"/>
    </inertial>
  </link>
  <link name="center_leg_left_1">
    <visual>
      <geometry>
        <cylinder length="0.14" radius="0.012"/>
      </geometry>
      <material name="black"/>
    </visual>
    <collision>
      <geometry>
        <cylinder length="0.14" radius="0.012"/>
      </geometry>
    </collision>
    <inertial>
      <mass value="0.18"/>
      <inertia ixx="0.000294" ixy="0.0" ixz="0.0" iyy="0.000294" iyz="0.0" izz="0.0"/>
    </inertial>
  </link>
  <link name="inner_leg_left_1">
    <visual>
      <geometry>
        <cylinder length="0.14" radius="0.008"/>
      </geometry>
      <material name="black"/>
    </visual>
    <collision>
      <geometry>
        <cylinder length="0.14" radius="0.008"/>
      </geometry>
    </collision>
    <inertial>
      <mass value="0.12"/>
      <inertia ixx="0.00019600000000000005" ixy="0.0" ixz="0.0" iyy="0.00019600000000000005" iyz="0.0" izz="0.0"/>
    </inertial>
  </link>
  <joint name="base_to_hip_left_1" type="fixed">
    <parent link="filler_link"/>
    <child link="hip_left_1"/>
    <origin rpy="0 0.7853981633974483 0" xyz="0.09899494936611665 -0.4 0.09899494936611666"/>
  </joint>
  <!--
    <joint name="outer_to_center_leg_${prefix}" type="fixed">
       <parent link="outer_leg_${prefix}"/>
       <child link="center_leg_${prefix}"/>
       <origin xyz="0 0 0.02"/>
    </joint>
    <joint name="center_to_inner_leg_${prefix}" type="fixed">
       <parent link="center_leg_${prefix}"/>
       <child link="inner_leg_${prefix}"/>
       <origin xyz="0 0 0.02"/>
    </joint>
    -->
  <joint name="hip_to_outer_leg_left_1" type="prismatic">
    <axis xyz="0 0 1"/>
    <parent link="hip_left_1"/>
    <child link="outer_leg_left_1"/>
    <limit effort="3000.0" lower="0.0" upper="0.14" velocity="0.1"/>
    <origin rpy="0 0 0" xyz="0 0 0"/>
    <dynamics damping="100.0" friction="200.0"/>
  </joint>
  <joint name="outer_to_center_leg_left_1" type="prismatic">
    <axis xyz="0 0 1"/>
    <parent link="outer_leg_left_1"/>
    <child link="center_leg_left_1"/>
    <limit effort="3000.0" lower="0.0" upper="0.14" velocity="0.1"/>
    <origin rpy="0 0 0" xyz="0 0 0"/>
    <dynamics damping="100.0" friction="200.0"/>
  </joint>
  <joint name="center_to_inner_leg_left_1" type="prismatic">
    <axis xyz="0 0 1"/>
    <parent link="center_leg_left_1"/>
    <child link="inner_leg_left_1"/>
    <limit effort="3000.0" lower="0.0" upper="0.14" velocity="0.1"/>
    <origin rpy="0 0 0" xyz="0 0 0"/>
    <dynamics damping="100.0" friction="200.0"/>
  </joint>
  <!--transmission name="base_to_hip_${prefix}">
      <type>transmission_interface/SimpleTransmission</type>
      <actuator name="$base_to_hip_${prefix}">
        <mechanicalReduction>1</mechanicalReduction>
      </actuator>
      <joint name="base_to_hip_${prefix}">
        <hardwareInterface>hardware_interface/VelocityJointInterface</hardwareInterface>
      </joint>
    </transmission-->
  <transmission name="outer_leg_extension_left_1_trans" type="SimpleTransmission">
    <type>transmission_interface/SimpleTransmission</type>
    <actuator name="outer_leg_extension_left_1_motor">
      <hardwareInterface>hardware_interface/PositionJointInterface</hardwareInterface>
      <mechanicalReduction>1</mechanicalReduction>
    </actuator>
    <joint name="hip_to_outer_leg_left_1">
      <hardwareInterface>hardware_interface/PositionJointInterface</hardwareInterface>
    </joint>
  </transmission>
  <transmission name="center_leg_extension_left_1_trans" type="SimpleTransmission">
    <type>transmission_interface/SimpleTransmission</type>
    <actuator name="center_leg_extension_left_1_motor">
      <hardwareInterface>hardware_interface/PositionJointInterface</hardwareInterface>
      <mechanicalReduction>1</mechanicalReduction>
    </actuator>
    <joint name="outer_to_center_leg_left_1">
      <hardwareInterface>hardware_interface/PositionJointInterface</hardwareInterface>
    </joint>
  </transmission>
  <transmission name="inner_leg_extension_left_1_trans" type="SimpleTransmission">
    <type>transmission_interface/SimpleTransmission</type>
    <actuator name="inner_leg_extension_left_1_motor">
      <hardwareInterface>hardware_interface/PositionJointInterface</hardwareInterface>
      <mechanicalReduction>1</mechanicalReduction>
    </actuator>
    <joint name="center_to_inner_leg_left_1">
      <hardwareInterface>hardware_interface/PositionJointInterface</hardwareInterface>
    </joint>
  </transmission>
  <link name="hip_left_3">
    <visual>
      <geometry>
        <cylinder length="0.14" radius="0.02"/>
      </geometry>
      <material name="black"/>
    </visual>
    <collision>
      <geometry>
        <cylinder length="0.14" radius="0.02"/>
      </geometry>
    </collision>
    <inertial>
      <mass value="0.3"/>
      <inertia ixx="0.0004900000000000001" ixy="0.0" ixz="0.0" iyy="0.0" iyz="0.0" izz="0.0004900000000000001"/>
    </inertial>
  </link>
  <link name="outer_leg_left_3">
    <visual>
      <geometry>
        <cylinder length="0.14" radius="0.016"/>
      </geometry>
      <material name="black"/>
    </visual>
    <collision>
      <geometry>
        <cylinder length="0.14" radius="0.016"/>
      </geometry>
    </collision>
    <inertial>
      <mass value="0.24"/>
      <inertia ixx="0.0003920000000000001" ixy="0.0" ixz="0.0" iyy="0.0" iyz="0.0" izz="0.0003920000000000001"/>
    </inertial>
  </link>
  <link name="center_leg_left_3">
    <visual>
      <geometry>
        <cylinder length="0.14" radius="0.012"/>
      </geometry>
      <material name="black"/>
    </visual>
    <collision>
      <geometry>
        <cylinder length="0.14" radius="0.012"/>
      </geometry>
    </collision>
    <inertial>
      <mass value="0.18"/>
      <inertia ixx="0.000294" ixy="0.0" ixz="0.0" iyy="0.000294" iyz="0.0" izz="0.0"/>
    </inertial>
  </link>
  <link name="inner_leg_left_3">
    <visual>
      <geometry>
        <cylinder length="0.14" radius="0.008"/>
      </geometry>
      <material name="black"/>
    </visual>
    <collision>
      <geometry>
        <cylinder length="0.14" radius="0.008"/>
      </geometry>
    </collision>
    <inertial>
      <mass value="0.12"/>
      <inertia ixx="0.00019600000000000005" ixy="0.0" ixz="0.0" iyy="0.00019600000000000005" iyz="0.0" izz="0.0"/>
    </inertial>
  </link>
  <joint name="base_to_hip_left_3" type="fixed">
    <parent link="filler_link"/>
    <child link="hip_left_3"/>
    <origin rpy="0 2.356194490192345 0" xyz="0.09899494936611666 -0.4 -0.09899494936611665"/>
  </joint>
  <!--
    <joint name="outer_to_center_leg_${prefix}" type="fixed">
       <parent link="outer_leg_${prefix}"/>
       <child link="center_leg_${prefix}"/>
       <origin xyz="0 0 0.02"/>
    </joint>
    <joint name="center_to_inner_leg_${prefix}" type="fixed">
       <parent link="center_leg_${prefix}"/>
       <child link="inner_leg_${prefix}"/>
       <origin xyz="0 0 0.02"/>
    </joint>
    -->
  <joint name="hip_to_outer_leg_left_3" type="prismatic">
    <axis xyz="0 0 1"/>
    <parent link="hip_left_3"/>
    <child link="outer_leg_left_3"/>
    <limit effort="3000.0" lower="0.0" upper="0.14" velocity="0.1"/>
    <origin rpy="0 0 0" xyz="0 0 0"/>
    <dynamics damping="100.0" friction="200.0"/>
  </joint>
  <joint name="outer_to_center_leg_left_3" type="prismatic">
    <axis xyz="0 0 1"/>
    <parent link="outer_leg_left_3"/>
    <child link="center_leg_left_3"/>
    <limit effort="3000.0" lower="0.0" upper="0.14" velocity="0.1"/>
    <origin rpy="0 0 0" xyz="0 0 0"/>
    <dynamics damping="100.0" friction="200.0"/>
  </joint>
  <joint name="center_to_inner_leg_left_3" type="prismatic">
    <axis xyz="0 0 1"/>
    <parent link="center_leg_left_3"/>
    <child link="inner_leg_left_3"/>
    <limit effort="3000.0" lower="0.0" upper="0.14" velocity="0.1"/>
    <origin rpy="0 0 0" xyz="0 0 0"/>
    <dynamics damping="100.0" friction="200.0"/>
  </joint>
  <!--transmission name="base_to_hip_${prefix}">
      <type>transmission_interface/SimpleTransmission</type>
      <actuator name="$base_to_hip_${prefix}">
        <mechanicalReduction>1</mechanicalReduction>
      </actuator>
      <joint name="base_to_hip_${prefix}">
        <hardwareInterface>hardware_interface/VelocityJointInterface</hardwareInterface>
      </joint>
    </transmission-->
  <transmission name="outer_leg_extension_left_3_trans" type="SimpleTransmission">
    <type>transmission_interface/SimpleTransmission</type>
    <actuator name="outer_leg_extension_left_3_motor">
      <hardwareInterface>hardware_interface/PositionJointInterface</hardwareInterface>
      <mechanicalReduction>1</mechanicalReduction>
    </actuator>
    <joint name="hip_to_outer_leg_left_3">
      <hardwareInterface>hardware_interface/PositionJointInterface</hardwareInterface>
    </joint>
  </transmission>
  <transmission name="center_leg_extension_left_3_trans" type="SimpleTransmission">
    <type>transmission_interface/SimpleTransmission</type>
    <actuator name="center_leg_extension_left_3_motor">
      <hardwareInterface>hardware_interface/PositionJointInterface</hardwareInterface>
      <mechanicalReduction>1</mechanicalReduction>
    </actuator>
    <joint name="outer_to_center_leg_left_3">
      <hardwareInterface>hardware_interface/PositionJointInterface</hardwareInterface>
    </joint>
  </transmission>
  <transmission name="inner_leg_extension_left_3_trans" type="SimpleTransmission">
    <type>transmission_interface/SimpleTransmission</type>
    <actuator name="inner_leg_extension_left_3_motor">
      <hardwareInterface>hardware_interface/PositionJointInterface</hardwareInterface>
      <mechanicalReduction>1</mechanicalReduction>
    </actuator>
    <joint name="center_to_inner_leg_left_3">
      <hardwareInterface>hardware_interface/PositionJointInterface</hardwareInterface>
    </joint>
  </transmission>
  <link name="hip_left_5">
    <visual>
      <geometry>
        <cylinder length="0.14" radius="0.02"/>
      </geometry>
      <material name="black"/>
    </visual>
    <collision>
      <geometry>
        <cylinder length="0.14" radius="0.02"/>
      </geometry>
    </collision>
    <inertial>
      <mass value="0.3"/>
      <inertia ixx="0.0004900000000000001" ixy="0.0" ixz="0.0" iyy="0.0" iyz="0.0" izz="0.0004900000000000001"/>
    </inertial>
  </link>
  <link name="outer_leg_left_5">
    <visual>
      <geometry>
        <cylinder length="0.14" radius="0.016"/>
      </geometry>
      <material name="black"/>
    </visual>
    <collision>
      <geometry>
        <cylinder length="0.14" radius="0.016"/>
      </geometry>
    </collision>
    <inertial>
      <mass value="0.24"/>
      <inertia ixx="0.0003920000000000001" ixy="0.0" ixz="0.0" iyy="0.0" iyz="0.0" izz="0.0003920000000000001"/>
    </inertial>
  </link>
  <link name="center_leg_left_5">
    <visual>
      <geometry>
        <cylinder length="0.14" radius="0.012"/>
      </geometry>
      <material name="black"/>
    </visual>
    <collision>
      <geometry>
        <cylinder length="0.14" radius="0.012"/>
      </geometry>
    </collision>
    <inertial>
      <mass value="0.18"/>
      <inertia ixx="0.000294" ixy="0.0" ixz="0.0" iyy="0.000294" iyz="0.0" izz="0.0"/>
    </inertial>
  </link>
  <link name="inner_leg_left_5">
    <visual>
      <geometry>
        <cylinder length="0.14" radius="0.008"/>
      </geometry>
      <material name="black"/>
    </visual>
    <collision>
      <geometry>
        <cylinder length="0.14" radius="0.008"/>
      </geometry>
    </collision>
    <inertial>
      <mass value="0.12"/>
      <inertia ixx="0.00019600000000000005" ixy="0.0" ixz="0.0" iyy="0.00019600000000000005" iyz="0.0" izz="0.0"/>
    </inertial>
  </link>
  <joint name="base_to_hip_left_5" type="fixed">
    <parent link="filler_link"/>
    <child link="hip_left_5"/>
    <origin rpy="0 3.9269908169872414 0" xyz="-0.09899494936611665 -0.4 -0.09899494936611669"/>
  </joint>
  <!--
    <joint name="outer_to_center_leg_${prefix}" type="fixed">
       <parent link="outer_leg_${prefix}"/>
       <child link="center_leg_${prefix}"/>
       <origin xyz="0 0 0.02"/>
    </joint>
    <joint name="center_to_inner_leg_${prefix}" type="fixed">
       <parent link="center_leg_${prefix}"/>
       <child link="inner_leg_${prefix}"/>
       <origin xyz="0 0 0.02"/>
    </joint>
    -->
  <joint name="hip_to_outer_leg_left_5" type="prismatic">
    <axis xyz="0 0 1"/>
    <parent link="hip_left_5"/>
    <child link="outer_leg_left_5"/>
    <limit effort="3000.0" lower="0.0" upper="0.14" velocity="0.1"/>
    <origin rpy="0 0 0" xyz="0 0 0"/>
    <dynamics damping="100.0" friction="200.0"/>
  </joint>
  <joint name="outer_to_center_leg_left_5" type="prismatic">
    <axis xyz="0 0 1"/>
    <parent link="outer_leg_left_5"/>
    <child link="center_leg_left_5"/>
    <limit effort="3000.0" lower="0.0" upper="0.14" velocity="0.1"/>
    <origin rpy="0 0 0" xyz="0 0 0"/>
    <dynamics damping="100.0" friction="200.0"/>
  </joint>
  <joint name="center_to_inner_leg_left_5" type="prismatic">
    <axis xyz="0 0 1"/>
    <parent link="center_leg_left_5"/>
    <child link="inner_leg_left_5"/>
    <limit effort="3000.0" lower="0.0" upper="0.14" velocity="0.1"/>
    <origin rpy="0 0 0" xyz="0 0 0"/>
    <dynamics damping="100.0" friction="200.0"/>
  </joint>
  <!--transmission name="base_to_hip_${prefix}">
      <type>transmission_interface/SimpleTransmission</type>
      <actuator name="$base_to_hip_${prefix}">
        <mechanicalReduction>1</mechanicalReduction>
      </actuator>
      <joint name="base_to_hip_${prefix}">
        <hardwareInterface>hardware_interface/VelocityJointInterface</hardwareInterface>
      </joint>
    </transmission-->
  <transmission name="outer_leg_extension_left_5_trans" type="SimpleTransmission">
    <type>transmission_interface/SimpleTransmission</type>
    <actuator name="outer_leg_extension_left_5_motor">
      <hardwareInterface>hardware_interface/PositionJointInterface</hardwareInterface>
      <mechanicalReduction>1</mechanicalReduction>
    </actuator>
    <joint name="hip_to_outer_leg_left_5">
      <hardwareInterface>hardware_interface/PositionJointInterface</hardwareInterface>
    </joint>
  </transmission>
  <transmission name="center_leg_extension_left_5_trans" type="SimpleTransmission">
    <type>transmission_interface/SimpleTransmission</type>
    <actuator name="center_leg_extension_left_5_motor">
      <hardwareInterface>hardware_interface/PositionJointInterface</hardwareInterface>
      <mechanicalReduction>1</mechanicalReduction>
    </actuator>
    <joint name="outer_to_center_leg_left_5">
      <hardwareInterface>hardware_interface/PositionJointInterface</hardwareInterface>
    </joint>
  </transmission>
  <transmission name="inner_leg_extension_left_5_trans" type="SimpleTransmission">
    <type>transmission_interface/SimpleTransmission</type>
    <actuator name="inner_leg_extension_left_5_motor">
      <hardwareInterface>hardware_interface/PositionJointInterface</hardwareInterface>
      <mechanicalReduction>1</mechanicalReduction>
    </actuator>
    <joint name="center_to_inner_leg_left_5">
      <hardwareInterface>hardware_interface/PositionJointInterface</hardwareInterface>
    </joint>
  </transmission>
  <link name="hip_left_7">
    <visual>
      <geometry>
        <cylinder length="0.14" radius="0.02"/>
      </geometry>
      <material name="black"/>
    </visual>
    <collision>
      <geometry>
        <cylinder length="0.14" radius="0.02"/>
      </geometry>
    </collision>
    <inertial>
      <mass value="0.3"/>
      <inertia ixx="0.0004900000000000001" ixy="0.0" ixz="0.0" iyy="0.0" iyz="0.0" izz="0.0004900000000000001"/>
    </inertial>
  </link>
  <link name="outer_leg_left_7">
    <visual>
      <geometry>
        <cylinder length="0.14" radius="0.016"/>
      </geometry>
      <material name="black"/>
    </visual>
    <collision>
      <geometry>
        <cylinder length="0.14" radius="0.016"/>
      </geometry>
    </collision>
    <inertial>
      <mass value="0.24"/>
      <inertia ixx="0.0003920000000000001" ixy="0.0" ixz="0.0" iyy="0.0" iyz="0.0" izz="0.0003920000000000001"/>
    </inertial>
  </link>
  <link name="center_leg_left_7">
    <visual>
      <geometry>
        <cylinder length="0.14" radius="0.012"/>
      </geometry>
      <material name="black"/>
    </visual>
    <collision>
      <geometry>
        <cylinder length="0.14" radius="0.012"/>
      </geometry>
    </collision>
    <inertial>
      <mass value="0.18"/>
      <inertia ixx="0.000294" ixy="0.0" ixz="0.0" iyy="0.000294" iyz="0.0" izz="0.0"/>
    </inertial>
  </link>
  <link name="inner_leg_left_7">
    <visual>
      <geometry>
        <cylinder length="0.14" radius="0.008"/>
      </geometry>
      <material name="black"/>
    </visual>
    <collision>
      <geometry>
        <cylinder length="0.14" radius="0.008"/>
      </geometry>
    </collision>
    <inertial>
      <mass value="0.12"/>
      <inertia ixx="0.00019600000000000005" ixy="0.0" ixz="0.0" iyy="0.00019600000000000005" iyz="0.0" izz="0.0"/>
    </inertial>
  </link>
  <joint name="base_to_hip_left_7" type="fixed">
    <parent link="filler_link"/>
    <child link="hip_left_7"/>
    <origin rpy="0 5.497787143782138 0" xyz="-0.09899494936611669 -0.4 0.09899494936611664"/>
  </joint>
  <!--
    <joint name="outer_to_center_leg_${prefix}" type="fixed">
       <parent link="outer_leg_${prefix}"/>
       <child link="center_leg_${prefix}"/>
       <origin xyz="0 0 0.02"/>
    </joint>
    <joint name="center_to_inner_leg_${prefix}" type="fixed">
       <parent link="center_leg_${prefix}"/>
       <child link="inner_leg_${prefix}"/>
       <origin xyz="0 0 0.02"/>
    </joint>
    -->
  <joint name="hip_to_outer_leg_left_7" type="prismatic">
    <axis xyz="0 0 1"/>
    <parent link="hip_left_7"/>
    <child link="outer_leg_left_7"/>
    <limit effort="3000.0" lower="0.0" upper="0.14" velocity="0.1"/>
    <origin rpy="0 0 0" xyz="0 0 0"/>
    <dynamics damping="100.0" friction="200.0"/>
  </joint>
  <joint name="outer_to_center_leg_left_7" type="prismatic">
    <axis xyz="0 0 1"/>
    <parent link="outer_leg_left_7"/>
    <child link="center_leg_left_7"/>
    <limit effort="3000.0" lower="0.0" upper="0.14" velocity="0.1"/>
    <origin rpy="0 0 0" xyz="0 0 0"/>
    <dynamics damping="100.0" friction="200.0"/>
  </joint>
  <joint name="center_to_inner_leg_left_7" type="prismatic">
    <axis xyz="0 0 1"/>
    <parent link="center_leg_left_7"/>
    <child link="inner_leg_left_7"/>
    <limit effort="3000.0" lower="0.0" upper="0.14" velocity="0.1"/>
    <origin rpy="0 0 0" xyz="0 0 0"/>
    <dynamics damping="100.0" friction="200.0"/>
  </joint>
  <!--transmission name="base_to_hip_${prefix}">
      <type>transmission_interface/SimpleTransmission</type>
      <actuator name="$base_to_hip_${prefix}">
        <mechanicalReduction>1</mechanicalReduction>
      </actuator>
      <joint name="base_to_hip_${prefix}">
        <hardwareInterface>hardware_interface/VelocityJointInterface</hardwareInterface>
      </joint>
    </transmission-->
  <transmission name="outer_leg_extension_left_7_trans" type="SimpleTransmission">
    <type>transmission_interface/SimpleTransmission</type>
    <actuator name="outer_leg_extension_left_7_motor">
      <hardwareInterface>hardware_interface/PositionJointInterface</hardwareInterface>
      <mechanicalReduction>1</mechanicalReduction>
    </actuator>
    <joint name="hip_to_outer_leg_left_7">
      <hardwareInterface>hardware_interface/PositionJointInterface</hardwareInterface>
    </joint>
  </transmission>
  <transmission name="center_leg_extension_left_7_trans" type="SimpleTransmission">
    <type>transmission_interface/SimpleTransmission</type>
    <actuator name="center_leg_extension_left_7_motor">
      <hardwareInterface>hardware_interface/PositionJointInterface</hardwareInterface>
      <mechanicalReduction>1</mechanicalReduction>
    </actuator>
    <joint name="outer_to_center_leg_left_7">
      <hardwareInterface>hardware_interface/PositionJointInterface</hardwareInterface>
    </joint>
  </transmission>
  <transmission name="inner_leg_extension_left_7_trans" type="SimpleTransmission">
    <type>transmission_interface/SimpleTransmission</type>
    <actuator name="inner_leg_extension_left_7_motor">
      <hardwareInterface>hardware_interface/PositionJointInterface</hardwareInterface>
      <mechanicalReduction>1</mechanicalReduction>
    </actuator>
    <joint name="center_to_inner_leg_left_7">
      <hardwareInterface>hardware_interface/PositionJointInterface</hardwareInterface>
    </joint>
  </transmission>
  <!--
  -->
  <gazebo>
    <plugin filename="libgazebo_ros_control.so" name="gazebo_ros_control">
      <robotNamespace>/</robotNamespace>
    </plugin>
  </gazebo>
</robot>
